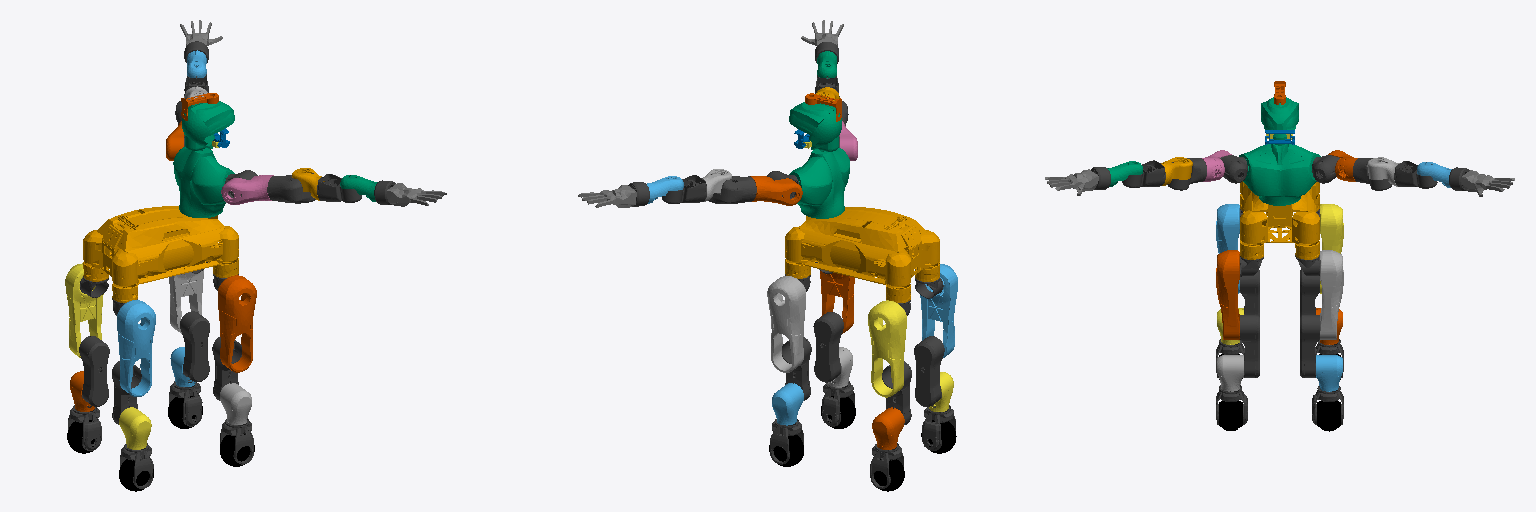
--- Facts derived from the render (not from the file) ---
3 views of the same robot in one strip: view 1: azimuth 30°, elevation 25°; view 2: azimuth 150°, elevation 25°; view 3: azimuth 270°, elevation 25° (orthographic).
Robot: centauro — 54 links, 53 joints (41 revolute, 5 continuous, 7 fixed); root link pelvis; default pose: all joints at 0 but 2 set to mid-range because 0 is outside their limits (j_arm1_2 = -1.74, j_arm2_2 = 1.74).
Links seen in each view (by area): view 1: pelvis, torso_2, hip2_2, hip2_4, hip2_3, knee_3, knee_1, hip2_1, arm2_2, ankle1_4, ankle1_2, arm2_3 (+11 smaller); view 2: pelvis, torso_2, hip2_1, hip2_3, hip2_4, knee_4, knee_2, hip2_2, arm1_2, ankle1_3, ankle1_1, arm1_3 (+11 smaller); view 3: torso_2, pelvis, hip2_2, hip2_1, knee_2, knee_1, hip2_4, hip2_3, ankle1_1, ankle1_2, arm2_8, arm1_8 (+12 smaller).
Boxes of the visible links, x1,y1,x2,y2 form: pelvis: [83, 206, 238, 302]; torso_2: [173, 101, 234, 217]; hip2_2: [218, 275, 256, 372]; hip2_4: [117, 300, 155, 396]; hip2_3: [65, 263, 103, 357]; knee_3: [79, 336, 109, 406]; knee_1: [180, 311, 209, 381]; hip2_1: [169, 270, 203, 333]; arm2_2: [221, 175, 273, 204]; ankle1_4: [119, 407, 151, 449]; ankle1_2: [220, 383, 251, 424]; arm2_3: [267, 173, 315, 203]; pelvis: [785, 207, 939, 302]; torso_2: [789, 102, 849, 218]; hip2_1: [767, 276, 805, 372]; hip2_3: [868, 300, 906, 397]; hip2_4: [920, 264, 957, 357]; knee_4: [914, 336, 944, 406]; knee_2: [813, 312, 843, 382]; hip2_2: [820, 271, 854, 333]; arm1_2: [750, 176, 802, 205]; ankle1_3: [872, 407, 904, 449]; ankle1_1: [772, 383, 803, 425]; arm1_3: [708, 174, 756, 203]; torso_2: [1239, 97, 1320, 205]; pelvis: [1240, 181, 1319, 259]; hip2_2: [1216, 250, 1239, 339]; hip2_1: [1320, 250, 1343, 339]; knee_2: [1240, 315, 1259, 377]; knee_1: [1300, 315, 1319, 377]; hip2_4: [1216, 204, 1239, 293]; hip2_3: [1320, 204, 1343, 293]; ankle1_1: [1316, 355, 1342, 391]; ankle1_2: [1217, 355, 1243, 391]; arm2_8: [1045, 169, 1098, 195]; arm1_8: [1461, 170, 1514, 196].
Bounding box of the posed robot: 1.16 × 2.13 × 1.68 m (x, y, z).
Meshes: 19 distinct files referenced, 45 mesh visuals loaded (19 binary STL).

robot.urdf — centauro:
<?xml version="1.0" ?>
<!-- =================================================================================== -->
<!-- |    This document was autogenerated by xacro from centauro.urdf.xacro            | -->
<!-- |    EDITING THIS FILE BY HAND IS NOT RECOMMENDED                                 | -->
<!-- =================================================================================== -->
<robot name="centauro" xmlns:xacro="http://www.ros.org/wiki/xacro">
  <!-- /constants -->
  <!-- Here all arguments from launch file are evaluated to the final xacro poropeties.
     Also all the parameter dependencies are resolved-->
  <!-- Here all arguments from launch file are evaluated to the final xacro poropeties.
     Also all the parameter dependencies are resolved-->
  <!-- Here all arguments from launch file are evaluated to the final xacro poropeties.
     Also all the parameter dependencies are resolved-->
  <!-- Here all arguments from launch file are evaluated to the final xacro poropeties.
     Also all the parameter dependencies are resolved-->
  <gazebo reference="j_ft_1">
    <sensor name="left_arm_ft" type="force_torque">
      <force_torque>
        <frame>parent</frame>
        <measure_direction>child_to_parent</measure_direction>
      </force_torque>
      <always_on>true</always_on>
      <visualize>true</visualize>
      <update_rate>1000</update_rate>
      <pose>0 0 0 0 0 0</pose>
    </sensor>
  </gazebo>
  <gazebo reference="j_ft_2">
    <sensor name="right_arm_ft" type="force_torque">
      <force_torque>
        <frame>parent</frame>
        <measure_direction>child_to_parent</measure_direction>
      </force_torque>
      <always_on>true</always_on>
      <visualize>true</visualize>
      <update_rate>1000</update_rate>
      <pose>0 0 0 0 0 0</pose>
    </sensor>
  </gazebo>
  <gazebo reference="j_wheel_1">
    <sensor name="fl_foot_ft" type="force_torque">
      <force_torque>
        <frame>parent</frame>
        <measure_direction>child_to_parent</measure_direction>
      </force_torque>
      <always_on>true</always_on>
      <visualize>true</visualize>
      <update_rate>1000</update_rate>
      <pose>0 0 0 0 0 0</pose>
    </sensor>
  </gazebo>
  <gazebo reference="j_wheel_2">
    <sensor name="fr_foot_ft" type="force_torque">
      <force_torque>
        <frame>parent</frame>
        <measure_direction>child_to_parent</measure_direction>
      </force_torque>
      <always_on>true</always_on>
      <visualize>true</visualize>
      <update_rate>1000</update_rate>
      <pose>0 0 0 0 0 0</pose>
    </sensor>
  </gazebo>
  <gazebo reference="j_wheel_4">
    <sensor name="hr_foot_ft" type="force_torque">
      <force_torque>
        <frame>parent</frame>
        <measure_direction>child_to_parent</measure_direction>
      </force_torque>
      <always_on>true</always_on>
      <visualize>true</visualize>
      <update_rate>1000</update_rate>
      <pose>0 0 0 0 0 0</pose>
    </sensor>
  </gazebo>
  <gazebo reference="j_wheel_3">
    <sensor name="hl_foot_ft" type="force_torque">
      <force_torque>
        <frame>parent</frame>
        <measure_direction>child_to_parent</measure_direction>
      </force_torque>
      <always_on>true</always_on>
      <visualize>true</visualize>
      <update_rate>1000</update_rate>
      <pose>0 0 0 0 0 0</pose>
    </sensor>
  </gazebo>
  <gazebo reference="wheel_1">
    <sensor name="wheel_1_contact_sensor_1" type="contact">
      <always_on>true</always_on>
      <update_rate>1000.0</update_rate>
      <contact>
        <collision>wheel_1_collision_1</collision>
      </contact>
      <plugin filename="libgazebo_ros_bumper.so" name="wheel_1_bumper">
        <bumperTopicName>centauro/contacts_wheel_1</bumperTopicName>
        <frameName>wheel_1</frameName>
      </plugin>
    </sensor>
  </gazebo>
  <gazebo reference="wheel_2">
    <sensor name="wheel_2_contact_sensor_1" type="contact">
      <always_on>true</always_on>
      <update_rate>1000.0</update_rate>
      <contact>
        <collision>wheel_2_collision_1</collision>
      </contact>
      <plugin filename="libgazebo_ros_bumper.so" name="wheel_2_bumper">
        <bumperTopicName>centauro/contacts_wheel_2</bumperTopicName>
        <frameName>wheel_2</frameName>
      </plugin>
    </sensor>
  </gazebo>
  <gazebo reference="wheel_3">
    <sensor name="wheel_3_contact_sensor_1" type="contact">
      <always_on>true</always_on>
      <update_rate>1000.0</update_rate>
      <contact>
        <collision>wheel_3_collision_1</collision>
      </contact>
      <plugin filename="libgazebo_ros_bumper.so" name="wheel_3_bumper">
        <bumperTopicName>centauro/contacts_wheel_3</bumperTopicName>
        <frameName>wheel_3</frameName>
      </plugin>
    </sensor>
  </gazebo>
  <gazebo reference="wheel_4">
    <sensor name="wheel_4_contact_sensor_1" type="contact">
      <always_on>true</always_on>
      <update_rate>1000.0</update_rate>
      <contact>
        <collision>wheel_4_collision_1</collision>
      </contact>
      <plugin filename="libgazebo_ros_bumper.so" name="wheel_4_bumper">
        <bumperTopicName>centauro/contacts_wheel_4</bumperTopicName>
        <frameName>wheel_4</frameName>
      </plugin>
    </sensor>
  </gazebo>
  <!-- Here all arguments from launch file are evaluated to the final xacro poropeties.
     Also all the parameter dependencies are resolved-->
  <gazebo reference="imu_link">
    <sensor name="imu_link" type="imu">
      <always_on>1</always_on>
      <update_rate>500</update_rate>
      <visualize>true</visualize>
      <topic>__default_topic__</topic>
      <imu>
        <!--
                <noise>
                <type>gaussian</type>
                <rate>
                    <mean>0.0</mean>
                    <stddev>2e-4</stddev>
                    <bias_mean>0.0000075</bias_mean>
                    <bias_stddev>0.0000008</bias_stddev>
                </rate>
                <accel>
                    <mean>0.0</mean>
                    <stddev>1.7e-2</stddev>
                    <bias_mean>0.1</bias_mean>
                    <bias_stddev>0.001</bias_stddev>
                </accel>
                </noise>
                -->
      </imu>
    </sensor>
  </gazebo>
  <gazebo>
    <plugin filename="libGazeboXBotPlugin.so" name="gazebo_xbot_plugin">
      <path_to_config_file>configs/ADVR_shared/centauro/configs/config_centauro.yaml</path_to_config_file>
      <!--                <path_to_config_file>configs/ADVR_shared/centauro/configs/config_centauro.yaml</path_to_config_file> -->
    </plugin>
    <plugin filename="libmagnetic.so" name="magnetic_LSoftHand">
      <link_name>arm1_8</link_name>
    </plugin>
    <plugin filename="libmagnetic.so" name="magnetic_RSoftHand">
      <link_name>arm2_8</link_name>
    </plugin>
  </gazebo>
  <!-- /CONTROLLER -->
  <!-- VISUALiZATION AND FRICTION -->
  <gazebo reference="base_link">
    <material>Gazebo/Red</material>
  </gazebo>
  <gazebo reference="pelvis">
    <material>Gazebo/OrangeTransparent</material>
    <mu1>0</mu1>
    <mu2>0</mu2>
  </gazebo>
  <gazebo reference="torso_2">
    <material>Gazebo/OrangeTransparent</material>
    <mu1>0</mu1>
    <mu2>0</mu2>
  </gazebo>
  <gazebo reference="hip1_1">
    <material>Gazebo/Lane_1</material>
    <mu1>0</mu1>
    <mu2>0</mu2>
  </gazebo>
  <gazebo reference="hip1_2">
    <material>Gazebo/Lane_1 </material>
    <mu1>0</mu1>
    <mu2>0</mu2>
  </gazebo>
  <gazebo reference="hip1_3">
    <material>Gazebo/Lane_1</material>
    <mu1>0</mu1>
    <mu2>0</mu2>
  </gazebo>
  <gazebo reference="hip1_4">
    <material>Gazebo/Lane_1</material>
    <mu1>0</mu1>
    <mu2>0</mu2>
  </gazebo>
  <gazebo reference="hip2_1">
    <material>Gazebo/OrangeTransparent </material>
    <mu1>0</mu1>
    <mu2>0</mu2>
  </gazebo>
  <gazebo reference="hip2_2">
    <material>Gazebo/OrangeTransparent</material>
    <mu1>0</mu1>
    <mu2>0</mu2>
  </gazebo>
  <gazebo reference="hip2_3">
    <material>Gazebo/OrangeTransparent </material>
    <mu1>0</mu1>
    <mu2>0</mu2>
  </gazebo>
  <gazebo reference="hip2_4">
    <material>Gazebo/OrangeTransparent </material>
    <mu1>0</mu1>
    <mu2>0</mu2>
  </gazebo>
  <gazebo reference="knee_1">
    <material>Gazebo/Lane_1 </material>
    <mu1>0</mu1>
    <mu2>0</mu2>
  </gazebo>
  <gazebo reference="knee_2">
    <material>Gazebo/Lane_1 </material>
    <mu1>0</mu1>
    <mu2>0</mu2>
  </gazebo>
  <gazebo reference="knee_3">
    <material>Gazebo/Lane_1 </material>
    <mu1>0</mu1>
    <mu2>0</mu2>
  </gazebo>
  <gazebo reference="knee_4">
    <material>Gazebo/Lane_1 </material>
    <mu1>0</mu1>
    <mu2>0</mu2>
  </gazebo>
  <gazebo reference="ankle1_1">
    <material>Gazebo/OrangeTransparent</material>
    <mu1>0</mu1>
    <mu2>0</mu2>
  </gazebo>
  <gazebo reference="ankle1_2">
    <material>Gazebo/OrangeTransparent  </material>
    <mu1>0</mu1>
    <mu2>0</mu2>
  </gazebo>
  <gazebo reference="ankle1_3">
    <material>Gazebo/OrangeTransparent </material>
    <mu1>0</mu1>
    <mu2>0</mu2>
  </gazebo>
  <gazebo reference="ankle1_4">
    <material>Gazebo/OrangeTransparent  </material>
    <mu1>0</mu1>
    <mu2>0</mu2>
  </gazebo>
  <gazebo reference="ankle2_1">
    <material> Gazebo/Lane_1 </material>
    <mu1>0</mu1>
    <mu2>0</mu2>
  </gazebo>
  <gazebo reference="ankle2_2">
    <material>Gazebo/Lane_1 </material>
    <mu1>0</mu1>
    <mu2>0</mu2>
  </gazebo>
  <gazebo reference="ankle2_3">
    <material>Gazebo/Lane_1</material>
    <mu1>0</mu1>
    <mu2>0</mu2>
  </gazebo>
  <gazebo reference="ankle2_4">
    <material>Gazebo/Lane_1</material>
    <mu1>0</mu1>
    <mu2>0</mu2>
  </gazebo>
  <gazebo reference="wheel_1">
    <material>Gazebo/Residential </material>
    <collision>
      <surface>
        <friction>
          <!--                                        <torsional>
                                                <coefficient> 0.5 </coefficient>
                                                <use_patch_radius>true</use_patch_radius>
                                                <patch_radius>0.2</patch_radius>
                                        </torsional>-->
          <ode>
            <mu>0.5</mu>
            <mu2>0.5</mu2>
          </ode>
          <bullet>
            <friction>0.5</friction>
            <friction2>0.5</friction2>
          </bullet>
        </friction>
        <contact>
          <ode>
            <!--<soft_cfm>0.0001</soft_cfm>
                                        <soft_erp>0.25</soft_erp> -->
            <kp>2100000</kp>
            <kd>1</kd>
            <max_vel>100</max_vel>
          </ode>
          <bullet>
            <soft_cfm>0.007</soft_cfm>
            <soft_erp>0.25</soft_erp>
            <kp>1000000</kp>
            <kd>5</kd>
            <split_impulse>0.01</split_impulse>
          </bullet>
        </contact>
      </surface>
    </collision>
  </gazebo>
  <gazebo reference="wheel_2">
    <material>Gazebo/Residential</material>
    <collision>
      <surface>
        <friction>
          <!--                                        <torsional>
                                                <coefficient> 0.5 </coefficient>
                                                <use_patch_radius>true</use_patch_radius>
                                                <patch_radius>0.2</patch_radius>
                                        </torsional>-->
          <ode>
            <mu>0.5</mu>
            <mu2>0.5</mu2>
          </ode>
          <bullet>
            <friction>0.5</friction>
            <friction2>0.5</friction2>
          </bullet>
        </friction>
        <contact>
          <ode>
            <!--<soft_cfm>0.0001</soft_cfm>
                                        <soft_erp>0.25</soft_erp> -->
            <kp>2100000</kp>
            <kd>1</kd>
            <max_vel>100</max_vel>
          </ode>
          <bullet>
            <soft_cfm>0.007</soft_cfm>
            <soft_erp>0.25</soft_erp>
            <kp>1000000</kp>
            <kd>5</kd>
            <split_impulse>0.01</split_impulse>
          </bullet>
        </contact>
      </surface>
    </collision>
  </gazebo>
  <gazebo reference="wheel_3">
    <material>Gazebo/Residential </material>
    <collision>
      <surface>
        <friction>
          <!--                                        <torsional>
                                                <coefficient> 0.5 </coefficient>
                                                <use_patch_radius>true</use_patch_radius>
                                                <patch_radius>0.2</patch_radius>
                                        </torsional>-->
          <ode>
            <mu>0.5</mu>
            <mu2>0.5</mu2>
          </ode>
          <bullet>
            <friction>0.5</friction>
            <friction2>0.5</friction2>
          </bullet>
        </friction>
        <contact>
          <ode>
            <!--<soft_cfm>0.0001</soft_cfm>
                                        <soft_erp>0.25</soft_erp> -->
            <kp>2100000</kp>
            <kd>1</kd>
            <max_vel>100</max_vel>
          </ode>
          <bullet>
            <soft_cfm>0.007</soft_cfm>
            <soft_erp>0.25</soft_erp>
            <kp>1000000</kp>
            <kd>5</kd>
            <split_impulse>0.01</split_impulse>
          </bullet>
        </contact>
      </surface>
    </collision>
  </gazebo>
  <gazebo reference="wheel_4">
    <material>Gazebo/Residential</material>
    <collision>
      <surface>
        <friction>
          <!--                                        <torsional>
                                                <coefficient> 0.5 </coefficient>
                                                <use_patch_radius>true</use_patch_radius>
                                                <patch_radius>0.2</patch_radius>
                                        </torsional>-->
          <ode>
            <mu>0.5</mu>
            <mu2>0.5</mu2>
          </ode>
          <bullet>
            <friction>0.5</friction>
            <friction2>0.5</friction2>
          </bullet>
        </friction>
        <contact>
          <ode>
            <!--<soft_cfm>0.0001</soft_cfm>
                                        <soft_erp>0.25</soft_erp> -->
            <kp>2100000</kp>
            <kd>1</kd>
            <max_vel>100</max_vel>
          </ode>
          <bullet>
            <soft_cfm>0.007</soft_cfm>
            <soft_erp>0.25</soft_erp>
            <kp>1000000</kp>
            <kd>5</kd>
            <split_impulse>0.01</split_impulse>
          </bullet>
        </contact>
      </surface>
    </collision>
  </gazebo>
  <gazebo reference="arm1_1">
    <material>Gazebo/Lane_1 </material>
    <mu1>0</mu1>
    <mu2>0</mu2>
  </gazebo>
  <gazebo reference="arm2_1">
    <material>Gazebo/Lane_1 </material>
    <mu1>0</mu1>
    <mu2>0</mu2>
  </gazebo>
  <gazebo reference="arm1_2">
    <material>Gazebo/OrangeTransparent </material>
    <mu1>0</mu1>
    <mu2>0</mu2>
  </gazebo>
  <gazebo reference="arm2_2">
    <material>Gazebo/OrangeTransparent</material>
    <mu1>0</mu1>
    <mu2>0</mu2>
  </gazebo>
  <gazebo reference="arm1_3">
    <material>Gazebo/Lane_1 </material>
    <mu1>0</mu1>
    <mu2>0</mu2>
  </gazebo>
  <gazebo reference="arm2_3">
    <material>Gazebo/Lane_1 </material>
    <mu1>0</mu1>
    <mu2>0</mu2>
  </gazebo>
  <gazebo reference="arm1_4">
    <material>Gazebo/OrangeTransparent </material>
    <mu1>0</mu1>
    <mu2>0</mu2>
  </gazebo>
  <gazebo reference="arm2_4">
    <material>Gazebo/OrangeTransparent </material>
    <mu1>0</mu1>
    <mu2>0</mu2>
  </gazebo>
  <gazebo reference="arm1_5">
    <material>Gazebo/Lane_1 </material>
    <mu1>0</mu1>
    <mu2>0</mu2>
  </gazebo>
  <gazebo reference="arm2_5">
    <material>Gazebo/Lane_1 </material>
    <mu1>0</mu1>
    <mu2>0</mu2>
  </gazebo>
  <gazebo reference="arm1_6">
    <material>Gazebo/OrangeTransparent </material>
    <mu1>0</mu1>
    <mu2>0</mu2>
  </gazebo>
  <gazebo reference="arm2_6">
    <material>Gazebo/OrangeTransparent </material>
    <mu1>0</mu1>
    <mu2>0</mu2>
  </gazebo>
  <gazebo reference="arm1_7">
    <material>Gazebo/Lane_1 </material>
    <mu1>0</mu1>
    <mu2>0</mu2>
  </gazebo>
  <gazebo reference="arm2_7">
    <material>Gazebo/Lane_1 </material>
    <mu1>0</mu1>
    <mu2>0</mu2>
  </gazebo>
  <gazebo reference="arm1_8">
    <material>Gazebo/OrangeTransparent </material>
    <mu1>0</mu1>
    <mu2>0</mu2>
  </gazebo>
  <gazebo reference="arm2_8">
    <material>Gazebo/OrangeTransparent </material>
    <mu1>0</mu1>
    <mu2>0</mu2>
  </gazebo>
  <material name="grey">
    <color rgba="0.5 0.5 0.5 1"/>
  </material>
  <material name="dark_grey">
    <color rgba="0.3 0.3 0.3 1"/>
  </material>
  <material name="blue">
    <color rgba="0.0 0.2 0.3 1"/>
  </material>
  <material name="red">
    <color rgba="0.5 0.1 0.2 1"/>
  </material>
  <material name="black">
    <color rgba="0.0 0.0 0.0 1"/>
  </material>
  <!-- Here all arguments from launch file are evaluated to the final xacro poropeties.
     Also all the parameter dependencies are resolved-->
  <!-- load proper collision model -->
  <!-- load proper collision model -->
  <!-- load proper collision model -->
  <!-- load proper collision model -->
  <!-- load proper collision model -->
  <!-- Here all arguments from launch file are evaluated to the final xacro poropeties.
     Also all the parameter dependencies are resolved-->
  <!-- load proper collision model -->
  <!-- load proper collision model -->
  <!-- load proper collision model -->
  <!-- load proper collision model -->
  <!-- load proper collision model -->
  <!-- /macro legs -->
  <!-- /macro arms -->
  <!-- /other files -->
  <!-- reference -->
  <!-- <link name="base_link"/>

<joint name="base_joint" type="fixed">
   <origin xyz="0 0 0"/>
   <parent link="base_link"/>
   <child link="world"/>
</joint>
-->
  <!--link name="world"/-->
  <link name="pelvis">
    <inertial>
      <origin xyz="-0.013541342 -0.0029098264 0.01400721"/>
      <mass value="24.190945"/>
      <inertia ixx="0.20021119" ixy="-0.0038421093" ixz="-0.033298849" iyy="0.51136214" iyz="0.004469847" izz="0.54401411"/>
    </inertial>
    <visual>
      <origin rpy="0.0 0.0 0.0" xyz="0.0 0 0.0"/>
      <geometry>
        <mesh filename="meshes/simplified/pelvis.stl" scale="0.001 0.001 0.001"/>
      </geometry>
    </visual>
    <collision>
      <origin rpy="0.0 0.0 0.0" xyz="0.0 0 0.0"/>
      <geometry>
        <mesh filename="meshes/convex_hull/pelvis.stl" scale="0.001 0.001 0.001"/>
      </geometry>
    </collision>
  </link>
  <link name="imu_link">
    <inertial>
      <mass value="0.0"/>
      <inertia ixx="0.0" ixy="0.0" ixz="0.0" iyy="0.0" iyz="0.0" izz="0.0"/>
    </inertial>
  </link>
  <joint name="imu_joint" type="fixed">
    <parent link="pelvis"/>
    <origin rpy="0.0 0.0 0.0" xyz="0.0 0.0 0.0"/>
    <child link="imu_link"/>
  </joint>
  <!--joint name="reference" type="floating">
    <origin xyz="0.0 0.0 0.93445"/>
    <parent link="world"/>
    <child link="pelvis"/>
  </joint-->
  <!-- /reference  -->
  <!-- torso links -->
  <link name="torso_2">
    <inertial>
      <origin xyz="0.0064454169 0.0021390093 0.14302095"/>
      <mass value="6.1886404"/>
      <inertia ixx="0.063643392" ixy="8.939e-05" ixz="-0.00086873" iyy="0.02680235" iyz="-4.657e-05" izz="0.04743015"/>
    </inertial>
    <visual>
      <origin rpy="0.0 0.0 0.0" xyz="0.0 0 0.0"/>
      <geometry>
        <mesh filename="meshes/simplified/link1.stl" scale="0.001 0.001 0.001"/>
      </geometry>
    </visual>
    <collision>
      <origin rpy="0.0 0.0 0.0" xyz="0.0 0 0.0"/>
      <geometry>
        <mesh filename="meshes/convex_hull/link1.stl" scale="0.001 0.001 0.001"/>
      </geometry>
    </collision>
  </link>
  <!-- /torso links -->
  <!-- torso joints -->
  <joint name="torso_yaw" type="revolute">
    <parent link="pelvis"/>
    <origin xyz="0.2 0.0 0.256"/>
    <child link="torso_2"/>
    <axis xyz="0 0 1"/>
    <limit effort="147" lower="-2.618" upper="2.618" velocity="5.7"/>
    <!-- TODO -->
  </joint>
  <!-- /torso joints -->
  <transmission name="t_torso_yaw">
    <type> transmission_interface/SimpleTransmission</type>
    <joint name="torso_yaw">
      <hardwareInterface>hardware_interface/EffortJointInterface</hardwareInterface>
    </joint>
    <actuator name="motor_torso_yaw">
      <hardwareInterface>hardware_interface/EffortJointInterface</hardwareInterface>
      <machanicalReduction>1</machanicalReduction>
    </actuator>
    <robotNamespace>/centauro</robotNamespace>
  </transmission>
  <!-- /torso actuators -->
  <!-- head links -->
  <link name="neck_1">
    <inertial>
      <origin xyz="0.040479674 0.021377573 -0.014595112"/>
      <mass value="0.33878686"/>
      <inertia ixx="0.0003718568" ixy="-9.42983e-05" ixz="-2.80644e-05" iyy="0.0001886879" iyz="-1.54534e-05" izz="0.0005023443"/>
    </inertial>
    <visual>
      <origin rpy="0.0 0.0 0.0" xyz="0.0 0 0.0"/>
      <geometry>
        <mesh filename="meshes/simplified/neck_yaw.stl" scale="0.001 0.001 0.001"/>
      </geometry>
    </visual>
    <collision>
      <origin rpy="0.0 0.0 0.0" xyz="0.0 0 0.0"/>
      <geometry>
        <mesh filename="meshes/convex_hull/neck_yaw.stl" scale="0.001 0.001 0.001"/>
      </geometry>
    </collision>
  </link>
  <link name="neck_2">
    <inertial>
      <origin xyz="0.048466918 -0.059852318 -0.0085314894"/>
      <mass value="0.78526942"/>
      <inertia ixx="0.0004682345" ixy="-1.05438e-05" ixz="7.24398e-05" iyy="0.0002635246" iyz="1.6904e-06" izz="0.0003763351"/>
    </inertial>
    <visual>
      <origin rpy="0.0 0.0 0.0" xyz="0.0 0 0.0"/>
      <geometry>
        <mesh filename="meshes/simplified/neck_pitch.stl" scale="0.001 0.001 0.001"/>
      </geometry>
    </visual>
    <collision>
      <origin rpy="0.0 0.0 0.0" xyz="0.0 0 0.0"/>
      <geometry>
        <mesh filename="meshes/convex_hull/neck_pitch.stl" scale="0.001 0.001 0.001"/>
      </geometry>
    </collision>
  </link>
  <link name="neck_3">
    <inertial>
      <origin xyz="0.048466918 -0.059852318 -0.0085314894"/>
      <mass value="0.78526942"/>
      <inertia ixx="0.0004682345" ixy="-1.05438e-05" ixz="7.24398e-05" iyy="0.0002635246" iyz="1.6904e-06" izz="0.0003763351"/>
    </inertial>
    <visual>
      <origin rpy="0.0 0.0 0.0" xyz="0.0 0 0.0"/>
      <geometry>
        <mesh filename="meshes/simplified/velodyne.stl" scale="0.001 0.001 0.001"/>
      </geometry>
    </visual>
    <collision>
      <origin rpy="0.0 0.0 0.0" xyz="0.0 0 0.0"/>
      <geometry>
        <mesh filename="meshes/convex_hull/velodyne.stl" scale="0.001 0.001 0.001"/>
      </geometry>
    </collision>
  </link>
  <!-- /head links -->
  <!-- sensors links -->
  <link name="camera_central">
    <inertial>
      <origin xyz="0.0 0.0 0.0"/>
      <mass value="0.1"/>
      <inertia ixx="1e-06" ixy="0.0" ixz="0.0" iyy="1e-06" iyz="0.0" izz="1e-06"/>
    </inertial>
  </link>
  <link name="camera_left">
    <inertial>
      <origin xyz="0.0 0.0 0.0"/>
      <mass value="0.1"/>
      <inertia ixx="1e-06" ixy="0.0" ixz="0.0" iyy="1e-06" iyz="0.0" izz="1e-06"/>
    </inertial>
  </link>
  <link name="camera_right">
    <inertial>
      <origin xyz="0.0 0.0 0.0"/>
      <mass value="0.1"/>
      <inertia ixx="1e-06" ixy="0.0" ixz="0.0" iyy="1e-06" iyz="0.0" izz="1e-06"/>
    </inertial>
  </link>
  <link name="kinect">
    <inertial>
      <origin xyz="0.0 0.0 0.0"/>
      <mass value="0.1"/>
      <inertia ixx="1e-06" ixy="0.0" ixz="0.0" iyy="1e-06" iyz="0.0" izz="1e-06"/>
    </inertial>
  </link>
  <link name="kinect2_rgb_optical_frame">
    <inertial>
      <origin rpy="0 0 0" xyz="0 0 0"/>
      <mass value="0"/>
      <inertia ixx="0.0" ixy="0.0" ixz="0.0" iyy="0.0" iyz="0.0" izz="0.0"/>
    </inertial>
  </link> <!-- in pybullet, the inertia need to be specified even for dummy links, otherwise it will put an identity inertia and a mass of 1 by default -->
  <link name="velodyne_mount">
    <inertial>
      <origin xyz="0.0 0.0 0.0"/>
      <mass value="0.1"/>
      <inertia ixx="1e-06" ixy="0.0" ixz="0.0" iyy="1e-06" iyz="0.0" izz="1e-06"/>
    </inertial>
  </link>
  <!-- /sensors links -->
  <!-- head joints -->
  <joint name="neck_yaw" type="revolute">
    <parent link="torso_2"/>
    <origin xyz="0.0 0.0 0.2795"/>
    <child link="neck_1"/>
    <axis xyz="0 0 1"/>
    <limit effort="35" lower="-0.78539816" upper="0.78539816" velocity="5.7"/>
    <!-- TODO -->
  </joint>
  <joint name="neck_pitch" type="revolute">
    <parent link="neck_1"/>
    <origin xyz="0.054 0.0596 -0.0124975"/>
    <child link="neck_2"/>
    <axis xyz="0 1 0"/>
    <limit effort="35" lower="-0.34906585" upper="0.78539816" velocity="5.7"/>
    <!-- TODO -->
  </joint>
  <joint name="neck_velodyne" type="continuous">
    <parent link="torso_2"/>
    <origin xyz="0.055 0.0 0.473262"/>
    <child link="neck_3"/>
    <axis xyz="0 0 1"/>
    <limit effort="35" velocity="5.7"/>
    <!-- TODO -->
  </joint>
  <!-- /head joints -->
  <!-- sensors transformations  -->
  <joint name="j_camera_central" type="fixed">
    <parent link="torso_2"/>
    <origin rpy="0.0 0.349065586018 0.0" xyz="0.0559593 5e-12 0.390626"/>
    <child link="camera_central"/>
  </joint>
  <joint name="j_camera_left" type="fixed">
    <parent link="torso_2"/>
    <origin rpy="0.0 0.349065586018 1.2217302006" xyz="0.0191392 0.0525845 0.390626"/>
    <child link="camera_left"/>
  </joint>
  <joint name="j_camera_right" type="fixed">
    <parent link="torso_2"/>
    <origin rpy="0.0 0.349065586018 -1.2217302006" xyz="0.0191392 -0.0525845 0.390626"/>
    <child link="camera_right"/>
  </joint>
  <joint name="j_kinect" type="fixed">
    <parent link="neck_2"/>
    <origin rpy="0.0 0.0 0.0" xyz="0.03 -0.0596 0.045855"/>
    <child link="kinect"/>
  </joint>
  <joint name="j_kinect_optical_frame" type="fixed">
    <parent link="kinect"/>
    <child link="kinect2_rgb_optical_frame"/>
    <origin rpy=" -1.5707963268 0 -1.5707963268" xyz="0.050 -0.110 -0.035"/>
  </joint>
  <joint name="j_velodyne" type="fixed">
    <parent link="neck_3"/>
    <origin rpy="0.0 0.0 -3.14159265359" xyz="-0.138 0.0 -0.033"/>
    <child link="velodyne_mount"/>
  </joint>
  <!-- /sensors transformations -->
  <transmission name="t_neck_yaw">
    <type> transmission_interface/SimpleTransmission</type>
    <joint name="neck_yaw">
      <hardwareInterface>hardware_interface/EffortJointInterface</hardwareInterface>
    </joint>
    <actuator name="motor_neck_yaw">
      <hardwareInterface>hardware_interface/EffortJointInterface</hardwareInterface>
      <machanicalReduction>1</machanicalReduction>
    </actuator>
    <robotNamespace>/centauro</robotNamespace>
  </transmission>
  <transmission name="t_neck_pitch">
    <type> transmission_interface/SimpleTransmission</type>
    <joint name="neck_pitch">
      <hardwareInterface>hardware_interface/EffortJointInterface</hardwareInterface>
    </joint>
    <actuator name="motor_neck_pitch">
      <hardwareInterface>hardware_interface/EffortJointInterface</hardwareInterface>
      <machanicalReduction>1</machanicalReduction>
    </actuator>
    <robotNamespace>/centauro</robotNamespace>
  </transmission>
  <transmission name="t_neck_velodyne">
    <type> transmission_interface/SimpleTransmission</type>
    <joint name="neck_velodyne">
      <hardwareInterface>hardware_interface/EffortJointInterface</hardwareInterface>
    </joint>
    <actuator name="motor_neck_velodyne">
      <hardwareInterface>hardware_interface/EffortJointInterface</hardwareInterface>
      <machanicalReduction>1</machanicalReduction>
    </actuator>
    <robotNamespace>/centauro</robotNamespace>
  </transmission>
  <!-- /torso actuators -->
  <!-- /torso -->
  <!-- LINKS -->
  <!-- shoulder yaw-roll-->
  <link name="arm1_1">
    <inertial>
      <origin xyz="-0.0031005886 0.040324584 0.007451937"/>
      <mass value="1.5583338"/>
      <inertia ixx="0.0032318636" ixy="4.24587e-05" ixz="4.91626e-05" iyy="0.00275718" iyz="-0.0002387056" izz="0.004275047"/>
    </inertial>
    <visual>
      <origin rpy="0.0 0.0 0.0" xyz="0.0 0.0 0.0"/>
      <geometry>
        <mesh filename="meshes/simplified/link2.stl" scale="0.001 -0.001 0.001"/>
      </geometry>
      <material name="dark_grey"/>
    </visual>
    <collision>
      <origin rpy="0.0 0.0 0.0" xyz="0.0 0.0 0.0"/>
      <geometry>
        <mesh filename="meshes/convex_hull/link2.stl" scale="0.001 -0.001 0.001"/>
      </geometry>
    </collision>
  </link>
  <!-- shoulder yaw-roll-->
  <!-- shoulder roll-pitch-->
  <link name="arm1_2">
    <inertial>
      <origin xyz="0.05105435 0.00011109 -0.07643596"/>
      <mass value="1.515061"/>
      <inertia ixx="0.01029558" ixy="2.846e-05" ixz="0.0036567" iyy="0.01178018" iyz="2.088e-05" izz="0.00386123"/>
    </inertial>
    <visual>
      <origin rpy="0.0 0.0 0.0" xyz="0.0 0.0 0.0"/>
      <geometry>
        <mesh filename="meshes/simplified/link3.stl" scale="0.001 -0.001 0.001"/>
      </geometry>
    </visual>
    <collision>
      <origin rpy="0.0 0.0 0.0" xyz="0.0 0.0 0.0"/>
      <geometry>
        <mesh filename="meshes/convex_hull/link3.stl" scale="0.001 -0.001 0.001"/>
      </geometry>
    </collision>
  </link>
  <!-- shoulder roll-pitch-->
  <!-- shoulder-elbow -->
  <link name="arm1_3">
    <inertial>
      <origin xyz="0.01207624 0.00322013 -0.03427312"/>
      <mass value="1.5088101"/>
      <inertia ixx="0.00469819" ixy="-0.00026547" ixz="0.00077706" iyy="0.00501755" iyz="0.00029679" izz="0.00310954"/>
    </inertial>
    <visual>
      <origin rpy="0.0 0.0 0.0" xyz="0.0 0.0 0.0"/>
      <geometry>
        <mesh filename="meshes/simplified/link4.stl" scale="0.001 -0.001 0.001"/>
      </geometry>
      <material name="dark_grey"/>
    </visual>
    <collision>
      <origin rpy="0.0 0.0 0.0" xyz="0.0 0.0 0.0"/>
      <geometry>
        <mesh filename="meshes/convex_hull/link4.stl" scale="0.001 -0.001 0.001"/>
      </geometry>
    </collision>
  </link>
  <!-- /shoulder-elbow -->
  <!-- elbow yaw-pitch -->
  <link name="arm1_4">
    <inertial>
      <origin xyz="0.010147552 -0.029928537 -0.032528288"/>
      <mass value="0.96297329"/>
      <inertia ixx="0.0026493567" ixy="5.1632e-06" ixz="0.0001292309" iyy="0.0023470955" iyz="-0.0007895755" izz="0.0012213063"/>
    </inertial>
    <visual>
      <origin rpy="0.0 0.0 0.0" xyz="0.0 0.0 0.0"/>
      <geometry>
        <mesh filename="meshes/simplified/link5.stl" scale="0.001 -0.001 0.001"/>
      </geometry>
    </visual>
    <collision>
      <origin rpy="0.0 0.0 0.0" xyz="0.0 0.0 0.0"/>
      <geometry>
        <mesh filename="meshes/convex_hull/link5.stl" scale="0.001 -0.001 0.001"/>
      </geometry>
    </collision>
  </link>
  <!-- /elbow yaw-pitch -->
  <!-- elbow-wrist -->
  <link name="arm1_5">
    <inertial>
      <origin xyz="-0.0001574443 0.0041320907 -0.10756614"/>
      <mass value="1.4703698"/>
      <inertia ixx="0.0064160453" ixy="1.96382e-05" ixz="2.49912e-05" iyy="0.0062016367" iyz="-0.0001987903" izz="0.0017091658"/>
    </inertial>
    <visual>
      <origin rpy="0.0 0.0 0.0" xyz="0.0 0.0 0.0"/>
      <geometry>
        <mesh filename="meshes/simplified/link6.stl" scale="0.001 -0.001 0.001"/>
      </geometry>
      <material name="dark_grey"/>
    </visual>
    <collision>
      <origin rpy="0.0 0.0 0.0" xyz="0.0 0.0 0.0"/>
      <geometry>
        <mesh filename="meshes/convex_hull/link6.stl" scale="0.001 -0.001 0.001"/>
      </geometry>
    </collision>
  </link>
  <!-- /elbow-wrist -->
  <!-- wrist yaw-pitch -->
  <link name="arm1_6">
    <inertial>
      <origin xyz="3.23645e-05 -0.035947237 -0.080878061"/>
      <mass value="0.94693868"/>
      <inertia ixx="0.0036896582" ixy="2.63667e-05" ixz="1.4005e-06" iyy="0.0034146283" iyz="-0.0008268103" izz="0.0010790183"/>
    </inertial>
    <visual>
      <origin rpy="0.0 0.0 0.0" xyz="0.0 0.0 0.0"/>
      <geometry>
        <mesh filename="meshes/simplified/link7.stl" scale="0.001 -0.001 0.001"/>
      </geometry>
    </visual>
    <collision>
      <origin rpy="0.0 0.0 0.0" xyz="0.0 0.0 0.0"/>
      <geometry>
        <mesh filename="meshes/convex_hull/link7.stl" scale="0.001 -0.001 0.001"/>
      </geometry>
    </collision>
  </link>
  <!-- /wrist yaw-pitch -->
  <link name="arm1_7">
    <inertial>
      <origin xyz="2.46596e-05 -0.0001467705 -0.0052993013"/>
      <mass value="0.55981036"/>
      <inertia ixx="0.0004360175" ixy="1.397e-07" ixz="-1.382e-07" iyy="0.0004299166" iyz="-1.4752e-06" izz="0.0004522224"/>
    </inertial>
    <visual>
      <origin rpy="0.0 0.0 0.0" xyz="0.0 0.0 0.0"/>
      <geometry>
        <mesh filename="meshes/simplified/link8.stl" scale="0.001 -0.001 0.001"/>
      </geometry>
      <material name="dark_grey"/>
    </visual>
    <collision>
      <origin rpy="0.0 0.0 0.0" xyz="0.0 0.0 0.0"/>
      <geometry>
        <mesh filename="meshes/convex_hull/link8.stl" scale="0.001 -0.001 0.001"/>
      </geometry>
    </collision>
  </link>
  <!-- /LINKS -->
  <!-- JOINTS -->
  <!-- shoulder yaw -->
  <joint name="j_arm1_1" type="revolute">
    <parent link="torso_2"/>
    <child link="arm1_1"/>
    <origin rpy="0.0 0.0 -0.523602668986" xyz="0.04576 0.169137 0.116626"/>
    <axis xyz="0 0.984807753012 0.173648177667"/>
    <limit effort="147" lower="-3.348" upper="1.578" velocity="5.7"/>
  </joint>
  <!-- /shoulder yaw -->
  <!-- shoulder roll -->
  <joint name="j_arm1_2" type="revolute">
    <parent link="arm1_1"/>
    <child link="arm1_2"/>
    <origin xyz="-0.09115 0.06106 0.010766"/>
    <axis xyz="-1 0 0"/>
    <limit effort="147" lower="-3.42" upper="-0.056" velocity="5.7"/>
  </joint>
  <!-- /shoulder roll -->
  <!-- shoulder pitch-->
  <joint name="j_arm1_3" type="revolute">
    <parent link="arm1_2"/>
    <child link="arm1_3"/>
    <origin xyz="0.09115 0.0 -0.21915"/>
    <axis xyz="0 0 -1"/>
    <limit effort="147" lower="-2.5556" upper="2.5424" velocity="8.2"/>
  </joint>
  <!-- /shoulder pitch -->
  <!-- elbow yaw -->
  <joint name="j_arm1_4" type="revolute">
    <parent link="arm1_3"/>
    <child link="arm1_4"/>
    <origin xyz="0.04 0.05615 -0.074"/>
    <axis xyz="0 1 0"/>
    <limit effort="147" lower="-2.4636" upper="0.2804" velocity="8.2"/>
  </joint>
  <!-- /elbow yaw -->
  <!-- elbow pitch-->
  <joint name="j_arm1_5" type="revolute">
    <parent link="arm1_4"/>
    <child link="arm1_5"/>
    <origin xyz="-0.015 -0.05615 -0.061"/>
    <axis xyz="0 0 -1"/>
    <limit effort="55" lower="-2.5406" upper="2.5534" velocity="11.6"/>
  </joint>
  <!-- /elbow pitch-->
  <!-- wrist yaw-->
  <joint name="j_arm1_6" type="revolute">
    <parent link="arm1_5"/>
    <child link="arm1_6"/>
    <origin xyz="0.0 0.049 -0.18"/>
    <axis xyz="0 1 0"/>
    <limit effort="55" lower="-1.5096" upper="1.5044" velocity="11.6"/>
  </joint>
  <!-- /wrist yaw-->
  <!-- wrist pitch-->
  <joint name="j_arm1_7" type="revolute">
    <parent link="arm1_6"/>
    <child link="arm1_7"/>
    <origin xyz="0.0 -0.049 -0.169"/>
    <axis xyz="0 0 -1"/>
    <limit effort="27" lower="-2.5376" upper="2.5554" velocity="20.3"/>
  </joint>
  <!-- wrist pitch-->
  <!-- force-troque sensor -->
  <transmission name="t_j_arm1_1">
    <type> transmission_interface/SimpleTransmission</type>
    <joint name="j_arm1_1">
      <hardwareInterface>hardware_interface/EffortJointInterface</hardwareInterface>
    </joint>
    <actuator name="motor_j_arm1_1">
      <hardwareInterface>hardware_interface/EffortJointInterface</hardwareInterface>
      <machanicalReduction>1</machanicalReduction>
    </actuator>
    <robotNamespace>/centauro</robotNamespace>
  </transmission>
  <transmission name="t_j_arm1_2">
    <type> transmission_interface/SimpleTransmission</type>
    <joint name="j_arm1_2">
      <hardwareInterface>hardware_interface/EffortJointInterface</hardwareInterface>
    </joint>
    <actuator name="motor_j_arm1_2">
      <hardwareInterface>hardware_interface/EffortJointInterface</hardwareInterface>
      <machanicalReduction>1</machanicalReduction>
    </actuator>
    <robotNamespace>/centauro</robotNamespace>
  </transmission>
  <transmission name="t_j_arm1_3">
    <type> transmission_interface/SimpleTransmission</type>
    <joint name="j_arm1_3">
      <hardwareInterface>hardware_interface/EffortJointInterface</hardwareInterface>
    </joint>
    <actuator name="motor_j_arm1_3">
      <hardwareInterface>hardware_interface/EffortJointInterface</hardwareInterface>
      <machanicalReduction>1</machanicalReduction>
    </actuator>
    <robotNamespace>/centauro</robotNamespace>
  </transmission>
  <transmission name="t_j_arm1_4">
    <type> transmission_interface/SimpleTransmission</type>
    <joint name="j_arm1_4">
      <hardwareInterface>hardware_interface/EffortJointInterface</hardwareInterface>
    </joint>
    <actuator name="motor_j_arm1_4">
      <hardwareInterface>hardware_interface/EffortJointInterface</hardwareInterface>
      <machanicalReduction>1</machanicalReduction>
    </actuator>
    <robotNamespace>/centauro</robotNamespace>
  </transmission>
  <transmission name="t_j_arm1_5">
    <type> transmission_interface/SimpleTransmission</type>
    <joint name="j_arm1_5">
      <hardwareInterface>hardware_interface/EffortJointInterface</hardwareInterface>
    </joint>
    <actuator name="motor_j_arm1_5">
      <hardwareInterface>hardware_interface/EffortJointInterface</hardwareInterface>
      <machanicalReduction>1</machanicalReduction>
    </actuator>
    <robotNamespace>/centauro</robotNamespace>
  </transmission>
  <transmission name="t_j_arm1_6">
    <type> transmission_interface/SimpleTransmission</type>
    <joint name="j_arm1_6">
      <hardwareInterface>hardware_interface/EffortJointInterface</hardwareInterface>
    </joint>
    <actuator name="motor_j_arm1_6">
      <hardwareInterface>hardware_interface/EffortJointInterface</hardwareInterface>
      <machanicalReduction>1</machanicalReduction>
    </actuator>
    <robotNamespace>/centauro</robotNamespace>
  </transmission>
  <transmission name="t_j_arm1_7">
    <type> transmission_interface/SimpleTransmission</type>
    <joint name="j_arm1_7">
      <hardwareInterface>hardware_interface/EffortJointInterface</hardwareInterface>
    </joint>
    <actuator name="motor_j_arm1_7">
      <hardwareInterface>hardware_interface/EffortJointInterface</hardwareInterface>
      <machanicalReduction>1</machanicalReduction>
    </actuator>
    <robotNamespace>/centauro</robotNamespace>
  </transmission>
  <!-- /actuators -->
  <!-- wrist pitch-->
  <joint name="j_ft_1" type="revolute">
    <parent link="arm1_7"/>
    <child link="ft_arm1"/>
    <origin rpy="0.0 3.14159265359 -3.14159265359" xyz="0.0 0.0 -0.0405"/>
    <axis xyz="0 0 1"/>
    <limit effort="0" lower="0.0" upper="0.0" velocity="0"/>
  </joint>
  <!-- wrist pitch-->
  <link name="ft_arm1">
    <inertial>
      <origin xyz="0.0 -0.0 0.0"/>
      <mass value="0.15"/>
      <inertia ixx="1e-06" ixy="-0.0" ixz="0.0" iyy="1e-06" iyz="-0.0" izz="1e-06"/>
    </inertial>
  </link>
  <transmission name="t_j_ft_1">
    <type> transmission_interface/SimpleTransmission</type>
    <joint name="j_ft_1">
      <hardwareInterface>hardware_interface/EffortJointInterface</hardwareInterface>
    </joint>
    <actuator name="motor_j_ft_1">
      <hardwareInterface>hardware_interface/EffortJointInterface</hardwareInterface>
      <machanicalReduction>1</machanicalReduction>
    </actuator>
    <robotNamespace>/centauro</robotNamespace>
  </transmission>
  <link name="arm1_8">
    <inertial>
      <origin rpy="0 0 0" xyz="0 0 -0.07"/>
      <mass value="0.3"/>
      <inertia ixx="0.000245" ixy="0" ixz="0" iyy="0.000245" iyz="0" izz="0.000245"/>
    </inertial>
    <visual>
      <origin rpy="0.0 0.0  3.14159265359" xyz="0.0 0.0 -0.038"/>
      <geometry>
        <mesh filename="meshes/simplified/soft_hand_open.stl" scale="-0.001 0.001 0.001"/>
      </geometry>
      <material name="grey"/>
    </visual>
    <collision>
      <origin rpy="0.0 0.0  3.14159265359" xyz="0.0 0.0 -0.038"/>
      <geometry>
        <mesh filename="meshes/simplified/soft_hand_open.stl" scale="-0.001 0.001 0.001"/>
      </geometry>
    </collision>
  </link>
  <!-- /links -->
  <joint name="j_arm1_8" type="revolute">
    <parent link="ft_arm1"/>
    <origin rpy="3.14159265359 0.0 0.0" xyz="0.0 0.0 -0.0405"/>
    <child link="arm1_8"/>
    <axis xyz="0 1 0"/>
    <limit effort="40" lower="0.0" upper="0.0" velocity="20.3"/>
  </joint>
   --&gt;

  <!-- /joints -->
  <transmission name="t_j_arm1_8">
    <type> transmission_interface/SimpleTransmission</type>
    <joint name="j_arm1_8">
      <hardwareInterface>hardware_interface/EffortJointInterface</hardwareInterface>
    </joint>
    <actuator name="motor_j_arm1_8">
      <hardwareInterface>hardware_interface/EffortJointInterface</hardwareInterface>
      <machanicalReduction>1</machanicalReduction>
    </actuator>
    <robotNamespace>/centauro</robotNamespace>
  </transmission>
  <!-- /actuators -->
  <!-- /end-effector -->
  <!-- LINKS -->
  <!-- shoulder yaw-roll-->
  <link name="arm2_1">
    <inertial>
      <origin xyz="-0.0031005886 -0.040324584 0.007451937"/>
      <mass value="1.5583338"/>
      <inertia ixx="0.0032318636" ixy="-4.24587e-05" ixz="4.91626e-05" iyy="0.00275718" iyz="0.0002387056" izz="0.004275047"/>
    </inertial>
    <visual>
      <origin rpy="0.0 0.0 0.0" xyz="0.0 0.0 0.0"/>
      <geometry>
        <mesh filename="meshes/simplified/link2.stl" scale="0.001 0.001 0.001"/>
      </geometry>
      <material name="dark_grey"/>
    </visual>
    <collision>
      <origin rpy="0.0 0.0 0.0" xyz="0.0 0.0 0.0"/>
      <geometry>
        <mesh filename="meshes/convex_hull/link2.stl" scale="0.001 0.001 0.001"/>
      </geometry>
    </collision>
  </link>
  <!-- shoulder yaw-roll-->
  <!-- shoulder roll-pitch-->
  <link name="arm2_2">
    <inertial>
      <origin xyz="0.05105435 -0.00011109 -0.07643596"/>
      <mass value="1.515061"/>
      <inertia ixx="0.01029558" ixy="-2.846e-05" ixz="0.0036567" iyy="0.01178018" iyz="-2.088e-05" izz="0.00386123"/>
    </inertial>
    <visual>
      <origin rpy="0.0 0.0 0.0" xyz="0.0 0.0 0.0"/>
      <geometry>
        <mesh filename="meshes/simplified/link3.stl" scale="0.001 0.001 0.001"/>
      </geometry>
    </visual>
    <collision>
      <origin rpy="0.0 0.0 0.0" xyz="0.0 0.0 0.0"/>
      <geometry>
        <mesh filename="meshes/convex_hull/link3.stl" scale="0.001 0.001 0.001"/>
      </geometry>
    </collision>
  </link>
  <!-- shoulder roll-pitch-->
  <!-- shoulder-elbow -->
  <link name="arm2_3">
    <inertial>
      <origin xyz="0.01207624 -0.00322013 -0.03427312"/>
      <mass value="1.5088101"/>
      <inertia ixx="0.00469819" ixy="0.00026547" ixz="0.00077706" iyy="0.00501755" iyz="-0.00029679" izz="0.00310954"/>
    </inertial>
    <visual>
      <origin rpy="0.0 0.0 0.0" xyz="0.0 0.0 0.0"/>
      <geometry>
        <mesh filename="meshes/simplified/link4.stl" scale="0.001 0.001 0.001"/>
      </geometry>
      <material name="dark_grey"/>
    </visual>
    <collision>
      <origin rpy="0.0 0.0 0.0" xyz="0.0 0.0 0.0"/>
      <geometry>
        <mesh filename="meshes/convex_hull/link4.stl" scale="0.001 0.001 0.001"/>
      </geometry>
    </collision>
  </link>
  <!-- /shoulder-elbow -->
  <!-- elbow yaw-pitch -->
  <link name="arm2_4">
    <inertial>
      <origin xyz="0.010147552 0.029928537 -0.032528288"/>
      <mass value="0.96297329"/>
      <inertia ixx="0.0026493567" ixy="-5.1632e-06" ixz="0.0001292309" iyy="0.0023470955" iyz="0.0007895755" izz="0.0012213063"/>
    </inertial>
    <visual>
      <origin rpy="0.0 0.0 0.0" xyz="0.0 0.0 0.0"/>
      <geometry>
        <mesh filename="meshes/simplified/link5.stl" scale="0.001 0.001 0.001"/>
      </geometry>
    </visual>
    <collision>
      <origin rpy="0.0 0.0 0.0" xyz="0.0 0.0 0.0"/>
      <geometry>
        <mesh filename="meshes/convex_hull/link5.stl" scale="0.001 0.001 0.001"/>
      </geometry>
    </collision>
  </link>
  <!-- /elbow yaw-pitch -->
  <!-- elbow-wrist -->
  <link name="arm2_5">
    <inertial>
      <origin xyz="-0.0001574443 -0.0041320907 -0.10756614"/>
      <mass value="1.4703698"/>
      <inertia ixx="0.0064160453" ixy="-1.96382e-05" ixz="2.49912e-05" iyy="0.0062016367" iyz="0.0001987903" izz="0.0017091658"/>
    </inertial>
    <visual>
      <origin rpy="0.0 0.0 0.0" xyz="0.0 0.0 0.0"/>
      <geometry>
        <mesh filename="meshes/simplified/link6.stl" scale="0.001 0.001 0.001"/>
      </geometry>
      <material name="dark_grey"/>
    </visual>
    <collision>
      <origin rpy="0.0 0.0 0.0" xyz="0.0 0.0 0.0"/>
      <geometry>
        <mesh filename="meshes/convex_hull/link6.stl" scale="0.001 0.001 0.001"/>
      </geometry>
    </collision>
  </link>
  <!-- /elbow-wrist -->
  <!-- wrist yaw-pitch -->
  <link name="arm2_6">
    <inertial>
      <origin xyz="3.23645e-05 0.035947237 -0.080878061"/>
      <mass value="0.94693868"/>
      <inertia ixx="0.0036896582" ixy="-2.63667e-05" ixz="1.4005e-06" iyy="0.0034146283" iyz="0.0008268103" izz="0.0010790183"/>
    </inertial>
    <visual>
      <origin rpy="0.0 0.0 0.0" xyz="0.0 0.0 0.0"/>
      <geometry>
        <mesh filename="meshes/simplified/link7.stl" scale="0.001 0.001 0.001"/>
      </geometry>
    </visual>
    <collision>
      <origin rpy="0.0 0.0 0.0" xyz="0.0 0.0 0.0"/>
      <geometry>
        <mesh filename="meshes/convex_hull/link7.stl" scale="0.001 0.001 0.001"/>
      </geometry>
    </collision>
  </link>
  <!-- /wrist yaw-pitch -->
  <link name="arm2_7">
    <inertial>
      <origin xyz="2.46596e-05 0.0001467705 -0.0052993013"/>
      <mass value="0.55981036"/>
      <inertia ixx="0.0004360175" ixy="-1.397e-07" ixz="-1.382e-07" iyy="0.0004299166" iyz="1.4752e-06" izz="0.0004522224"/>
    </inertial>
    <visual>
      <origin rpy="0.0 0.0 0.0" xyz="0.0 0.0 0.0"/>
      <geometry>
        <mesh filename="meshes/simplified/link8.stl" scale="0.001 0.001 0.001"/>
      </geometry>
      <material name="dark_grey"/>
    </visual>
    <collision>
      <origin rpy="0.0 0.0 0.0" xyz="0.0 0.0 0.0"/>
      <geometry>
        <mesh filename="meshes/convex_hull/link8.stl" scale="0.001 0.001 0.001"/>
      </geometry>
    </collision>
  </link>
  <!-- /LINKS -->
  <!-- JOINTS -->
  <!-- shoulder yaw -->
  <joint name="j_arm2_1" type="revolute">
    <parent link="torso_2"/>
    <child link="arm2_1"/>
    <origin rpy="0.0 0.0 0.523602668986" xyz="0.04576 -0.169137 0.116626"/>
    <axis xyz="0 -0.984807753012 0.173648177667"/>
    <limit effort="147" lower="-1.6102" upper="3.3138" velocity="5.7"/>
  </joint>
  <!-- /shoulder yaw -->
  <!-- shoulder roll -->
  <joint name="j_arm2_2" type="revolute">
    <parent link="arm2_1"/>
    <child link="arm2_2"/>
    <origin xyz="-0.09115 -0.06106 0.010766"/>
    <axis xyz="-1 0 0"/>
    <limit effort="147" lower="0.0578" upper="3.4288" velocity="5.7"/>
  </joint>
  <!-- /shoulder roll -->
  <!-- shoulder pitch-->
  <joint name="j_arm2_3" type="revolute">
    <parent link="arm2_2"/>
    <child link="arm2_3"/>
    <origin xyz="0.09115 0.0 -0.21915"/>
    <axis xyz="0 0 -1"/>
    <limit effort="147" lower="-2.5426" upper="2.5524" velocity="8.2"/>
  </joint>
  <!-- /shoulder pitch -->
  <!-- elbow yaw -->
  <joint name="j_arm2_4" type="revolute">
    <parent link="arm2_3"/>
    <child link="arm2_4"/>
    <origin xyz="0.04 -0.05615 -0.074"/>
    <axis xyz="0 -1 0"/>
    <limit effort="147" lower="-0.2796" upper="2.4564" velocity="8.2"/>
  </joint>
  <!-- /elbow yaw -->
  <!-- elbow pitch-->
  <joint name="j_arm2_5" type="revolute">
    <parent link="arm2_4"/>
    <child link="arm2_5"/>
    <origin xyz="-0.015 0.05615 -0.061"/>
    <axis xyz="0 0 -1"/>
    <limit effort="55" lower="-2.5626" upper="2.5464" velocity="11.6"/>
  </joint>
  <!-- /elbow pitch-->
  <!-- wrist yaw-->
  <joint name="j_arm2_6" type="revolute">
    <parent link="arm2_5"/>
    <child link="arm2_6"/>
    <origin xyz="0.0 -0.049 -0.18"/>
    <axis xyz="0 -1 0"/>
    <limit effort="55" lower="-1.4726" upper="1.5364" velocity="11.6"/>
  </joint>
  <!-- /wrist yaw-->
  <!-- wrist pitch-->
  <joint name="j_arm2_7" type="revolute">
    <parent link="arm2_6"/>
    <child link="arm2_7"/>
    <origin xyz="0.0 0.049 -0.169"/>
    <axis xyz="0 0 -1"/>
    <limit effort="27" lower="-3.0908" upper="2.0114" velocity="20.3"/>
  </joint>
  <!-- wrist pitch-->
  <!-- force-troque sensor -->
  <transmission name="t_j_arm2_1">
    <type> transmission_interface/SimpleTransmission</type>
    <joint name="j_arm2_1">
      <hardwareInterface>hardware_interface/EffortJointInterface</hardwareInterface>
    </joint>
    <actuator name="motor_j_arm2_1">
      <hardwareInterface>hardware_interface/EffortJointInterface</hardwareInterface>
      <machanicalReduction>1</machanicalReduction>
    </actuator>
    <robotNamespace>/centauro</robotNamespace>
  </transmission>
  <transmission name="t_j_arm2_2">
    <type> transmission_interface/SimpleTransmission</type>
    <joint name="j_arm2_2">
      <hardwareInterface>hardware_interface/EffortJointInterface</hardwareInterface>
    </joint>
    <actuator name="motor_j_arm2_2">
      <hardwareInterface>hardware_interface/EffortJointInterface</hardwareInterface>
      <machanicalReduction>1</machanicalReduction>
    </actuator>
    <robotNamespace>/centauro</robotNamespace>
  </transmission>
  <transmission name="t_j_arm2_3">
    <type> transmission_interface/SimpleTransmission</type>
    <joint name="j_arm2_3">
      <hardwareInterface>hardware_interface/EffortJointInterface</hardwareInterface>
    </joint>
    <actuator name="motor_j_arm2_3">
      <hardwareInterface>hardware_interface/EffortJointInterface</hardwareInterface>
      <machanicalReduction>1</machanicalReduction>
    </actuator>
    <robotNamespace>/centauro</robotNamespace>
  </transmission>
  <transmission name="t_j_arm2_4">
    <type> transmission_interface/SimpleTransmission</type>
    <joint name="j_arm2_4">
      <hardwareInterface>hardware_interface/EffortJointInterface</hardwareInterface>
    </joint>
    <actuator name="motor_j_arm2_4">
      <hardwareInterface>hardware_interface/EffortJointInterface</hardwareInterface>
      <machanicalReduction>1</machanicalReduction>
    </actuator>
    <robotNamespace>/centauro</robotNamespace>
  </transmission>
  <transmission name="t_j_arm2_5">
    <type> transmission_interface/SimpleTransmission</type>
    <joint name="j_arm2_5">
      <hardwareInterface>hardware_interface/EffortJointInterface</hardwareInterface>
    </joint>
    <actuator name="motor_j_arm2_5">
      <hardwareInterface>hardware_interface/EffortJointInterface</hardwareInterface>
      <machanicalReduction>1</machanicalReduction>
    </actuator>
    <robotNamespace>/centauro</robotNamespace>
  </transmission>
  <transmission name="t_j_arm2_6">
    <type> transmission_interface/SimpleTransmission</type>
    <joint name="j_arm2_6">
      <hardwareInterface>hardware_interface/EffortJointInterface</hardwareInterface>
    </joint>
    <actuator name="motor_j_arm2_6">
      <hardwareInterface>hardware_interface/EffortJointInterface</hardwareInterface>
      <machanicalReduction>1</machanicalReduction>
    </actuator>
    <robotNamespace>/centauro</robotNamespace>
  </transmission>
  <transmission name="t_j_arm2_7">
    <type> transmission_interface/SimpleTransmission</type>
    <joint name="j_arm2_7">
      <hardwareInterface>hardware_interface/EffortJointInterface</hardwareInterface>
    </joint>
    <actuator name="motor_j_arm2_7">
      <hardwareInterface>hardware_interface/EffortJointInterface</hardwareInterface>
      <machanicalReduction>1</machanicalReduction>
    </actuator>
    <robotNamespace>/centauro</robotNamespace>
  </transmission>
  <!-- /actuators -->
  <!-- wrist pitch-->
  <joint name="j_ft_2" type="revolute">
    <parent link="arm2_7"/>
    <child link="ft_arm2"/>
    <origin rpy="0.0 3.14159265359 -3.14159265359" xyz="0.0 0.0 -0.0405"/>
    <axis xyz="0 0 1"/>
    <limit effort="0" lower="0.0" upper="0.0" velocity="0"/>
  </joint>
  <!-- wrist pitch-->
  <link name="ft_arm2">
    <inertial>
      <origin xyz="0.0 0.0 0.0"/>
      <mass value="0.15"/>
      <inertia ixx="1e-06" ixy="0.0" ixz="0.0" iyy="1e-06" iyz="0.0" izz="1e-06"/>
    </inertial>
  </link>
  <transmission name="t_j_ft_2">
    <type> transmission_interface/SimpleTransmission</type>
    <joint name="j_ft_2">
      <hardwareInterface>hardware_interface/EffortJointInterface</hardwareInterface>
    </joint>
    <actuator name="motor_j_ft_2">
      <hardwareInterface>hardware_interface/EffortJointInterface</hardwareInterface>
      <machanicalReduction>1</machanicalReduction>
    </actuator>
    <robotNamespace>/centauro</robotNamespace>
  </transmission>
  <link name="arm2_8">
    <inertial>
      <origin rpy="0 0 0" xyz="0 0 -0.07"/>
      <mass value="0.3"/>
      <inertia ixx="0.000245" ixy="0" ixz="0" iyy="0.000245" iyz="0" izz="0.000245"/>
    </inertial>
    <visual>
      <origin rpy="0.0 0.0  0.0" xyz="0.0 0.0 -0.038"/>
      <geometry>
        <mesh filename="meshes/simplified/soft_hand_open.stl" scale="0.001 0.001 0.001"/>
      </geometry>
      <material name="grey"/>
    </visual>
    <collision>
      <origin rpy="0.0 0.0  0.0" xyz="0.0 0.0 -0.038"/>
      <geometry>
        <mesh filename="meshes/simplified/soft_hand_open.stl" scale="0.001 0.001 0.001"/>
      </geometry>
    </collision>
  </link>
  <!-- /links -->
  <joint name="j_arm2_8" type="revolute">
    <parent link="ft_arm2"/>
    <origin rpy="3.14159265359 0.0 0.0" xyz="0.0 0.0 -0.0405"/>
    <child link="arm2_8"/>
    <axis xyz="0 1 0"/>
    <limit effort="40" lower="0.0" upper="0.0" velocity="20.3"/>
  </joint>
   --&gt;

  <!-- /joints -->
  <transmission name="t_j_arm2_8">
    <type> transmission_interface/SimpleTransmission</type>
    <joint name="j_arm2_8">
      <hardwareInterface>hardware_interface/EffortJointInterface</hardwareInterface>
    </joint>
    <actuator name="motor_j_arm2_8">
      <hardwareInterface>hardware_interface/EffortJointInterface</hardwareInterface>
      <machanicalReduction>1</machanicalReduction>
    </actuator>
    <robotNamespace>/centauro</robotNamespace>
  </transmission>
  <!-- /actuators -->
  <!-- /end-effector -->
  <!-- /arms -->
  <link name="hip1_1">
    <inertial>
      <origin xyz="0.010214199 -0.018348359 0.038090987"/>
      <mass value="1.9194403"/>
      <!-- org: 2 -->
      <inertia ixx="0.0047439572" ixy="0.0005747047" ixz="-0.0003784138" iyy="0.0040551878" iyz="0.0007407508" izz="0.0034146219"/>
      <!-- <inertia ixx="0.01" ixy="0.01" ixz="0.01" iyy="0.01" iyz="0.01" izz="0.01"/> -->
    </inertial>
    <visual>
      <origin rpy="0.0 0.0 4.06442490005" xyz="0.0 0.0 0.0"/>
      <geometry>
        <mesh filename="meshes/simplified/hip-yaw.stl" scale="0.001 0.001 0.001"/>
      </geometry>
      <material name="dark_grey"/>
    </visual>
    <collision>
      <origin rpy="0.0 0.0 4.06442490005" xyz="0.0 0.0 0.0"/>
      <geometry>
        <mesh filename="meshes/convex_hull/hip-yaw.stl" scale="0.001 0.001 0.001"/>
      </geometry>
    </collision>
  </link>
  <link name="hip2_1">
    <inertial>
      <origin xyz="2.57966e-05 0.1810266 0.085669756"/>
      <mass value="2.7264471"/>
      <!-- org: 4.5 -->
      <inertia ixx="0.04851869" ixy="-4.11894e-05" ixz="-1.68778e-05" iyy="0.004242055" iyz="0.0032243188" izz="0.04825583"/>
      <!-- <inertia ixx="0.01" ixy="0.01" ixz="0.01" iyy="0.01" iyz="0.01" izz="0.01"/> -->
    </inertial>
    <visual>
      <origin rpy="0.0 0.0 0.0" xyz="0.0 0.0 0.0"/>
      <geometry>
        <mesh filename="meshes/simplified/hip-pitch.stl" scale="0.001 0.001 0.001"/>
      </geometry>
    </visual>
    <collision>
      <origin rpy="0.0 0.0 0.0" xyz="0.0 0.0 0.0"/>
      <geometry>
        <mesh filename="meshes/convex_hull/hip-pitch.stl" scale="0.001 0.001 0.001"/>
      </geometry>
    </collision>
  </link>
  <link name="knee_1">
    <inertial>
      <origin xyz="0.10881667 0.0001089081 -0.022638996"/>
      <mass value="1.9356754"/>
      <!-- org: 3.5, foot un modeled-->
      <inertia ixx="0.0030534242" ixy="-4.22079e-05" ixz="0.0013679297" iyy="0.019603321" iyz="6.9941e-06" izz="0.019849817"/>
      <!--	<inertia ixx="0.01" ixy="0.01" ixz="0.01" iyy="0.01" iyz="0.01" izz="0.01"/>  -->
    </inertial>
    <visual>
      <origin rpy="0.0 0.0 0.0" xyz="0.0 0.0 0.0"/>
      <geometry>
        <mesh filename="meshes/simplified/knee.stl" scale="0.001 0.001 0.001"/>
      </geometry>
      <material name="dark_grey"/>
    </visual>
    <collision>
      <origin rpy="0.0 0.0 0.0" xyz="0.0 0.0 0.0"/>
      <geometry>
        <mesh filename="meshes/convex_hull/knee.stl" scale="0.001 0.001 0.001"/>
      </geometry>
    </collision>
  </link>
  <link name="ankle1_1">
    <inertial>
      <origin xyz="0.032137318 9.73572e-05 -0.0044222206"/>
      <mass value="1.2380744"/>
      <!-- org: 3.5, foot un modeled-->
      <inertia ixx="0.0015610452" ixy="3.30597e-05" ixz="-0.0001314174" iyy="0.0037423211" iyz="-2.12589e-05" izz="0.0038312442"/>
      <!--	<inertia ixx="0.01" ixy="0.01" ixz="0.01" iyy="0.01" iyz="0.01" izz="0.01"/>  -->
    </inertial>
    <visual>
      <origin rpy="0.0 0.0 0.0" xyz="0.0 0.0 0.0"/>
      <geometry>
        <mesh filename="meshes/simplified/ankle-pitch.stl" scale="0.001 0.001 0.001"/>
      </geometry>
    </visual>
    <collision>
      <origin rpy="0.0 0.0 0.0" xyz="0.0 0.0 0.0"/>
      <geometry>
        <mesh filename="meshes/convex_hull/ankle-pitch.stl" scale="0.001 0.001 0.001"/>
      </geometry>
    </collision>
  </link>
  <link name="ankle2_1">
    <inertial>
      <origin xyz="0.0004435803 0.0004389911 0.19392092"/>
      <mass value="1.1565926"/>
      <!-- org: 3.5, foot un modeled-->
      <inertia ixx="0.0049019475" ixy="4.3032e-06" ixz="3.46491e-05" iyy="0.0038724162" iyz="1.7099e-05" izz="0.0021783198"/>
    </inertial>
    <visual>
      <origin rpy="0.0 0.0 0.0" xyz="0.0 0.0 0.0"/>
      <geometry>
        <mesh filename="meshes/simplified/ankle-yaw.stl" scale="0.001 0.001 0.001"/>
      </geometry>
      <material name="dark_grey"/>
    </visual>
    <collision>
      <origin rpy="0.0 0.0 0.0" xyz="0.0 0.0 0.0"/>
      <geometry>
        <mesh filename="meshes/convex_hull/ankle-yaw.stl" scale="0.001 0.001 0.001"/>
      </geometry>
    </collision>
  </link>
  <link name="wheel_1">
    <inertial>
      <origin xyz="0.0 0.0 0.0024271906"/>
      <mass value="1.7289003"/>
      <!-- org: 3.5, foot un modeled-->
      <inertia ixx="0.0046864297" ixy="0.0" ixz="0.0" iyy="0.0046713489" iyz="0.0" izz="0.0053126029"/>
    </inertial>
    <visual>
      <origin rpy="0.0 0.0 0.0" xyz="0.0 0.0 0.0"/>
      <geometry>
        <mesh filename="meshes/simplified/wheel.stl" scale="0.001 0.001 0.001"/>
      </geometry>
      <material name="black"/>
    </visual>
    <collision>
      <origin rpy="0.0 0.0 0.0" xyz="0.0 0.0 0.0"/>
      <geometry>
        <mesh filename="meshes/convex_hull/wheel.stl" scale="0.001 0.001 0.001"/>
      </geometry>
    </collision>
  </link>
  <joint name="hip_yaw_1" type="revolute">
    <parent link="pelvis"/>
    <child link="hip1_1"/>
    <origin rpy="3.14159265359 0.0 0.461416123228" xyz="0.25 0.125 -0.0566"/>
    <axis xyz="0 0 1"/>
    <limit effort="304" lower="-0.9432" upper="2.5138" velocity="8.8"/>
  </joint>
  <joint name="hip_pitch_1" type="revolute">
    <parent link="hip1_1"/>
    <child link="hip2_1"/>
    <origin rpy="1.57079632679 0.0 0.46141612323" xyz="0.0 0.0 0.0625"/>
    <axis xyz="0 0 1"/>
    <limit effort="304" lower="-2.0226" upper="2.02748" velocity="8.8"/>
  </joint>
  <joint name="knee_pitch_1" type="revolute">
    <parent link="hip2_1"/>
    <child link="knee_1"/>
    <origin rpy="3.14159265359 0.0 1.57079632679" xyz="0.0 0.3 -0.0036"/>
    <axis xyz="0 0 1"/>
    <limit effort="304" lower="-2.4056" upper="2.3994" velocity="8.8"/>
  </joint>
  <joint name="ankle_pitch_1" type="revolute">
    <parent link="knee_1"/>
    <child link="ankle1_1"/>
    <origin rpy="3.14159265359 0.0 0.0" xyz="0.2 0.0 -0.10015"/>
    <axis xyz="0 0 1"/>
    <limit effort="147" lower="-2.4056" upper="2.3184" velocity="8.1"/>
  </joint>
  <joint name="ankle_yaw_1" type="revolute">
    <parent link="ankle1_1"/>
    <child link="ankle2_1"/>
    <origin rpy="1.57079632679 0.0 1.57079632679" xyz="0.0 0.0 0.0"/>
    <axis xyz="0 0 1"/>
    <limit effort="35" lower="-2.5626" upper="2.5384" velocity="20.0"/>
  </joint>
  <joint name="j_wheel_1" type="continuous">
    <parent link="ankle2_1"/>
    <child link="wheel_1"/>
    <origin rpy="1.57079632679 0.0 3.14159265359" xyz="0.0 0.00085 0.23735"/>
    <axis xyz="0 0 -1"/>
    <limit effort="35" velocity="20.0"/>
  </joint>
  <transmission name="t_hip_yaw_1">
    <type> transmission_interface/SimpleTransmission</type>
    <joint name="hip_yaw_1">
      <hardwareInterface>hardware_interface/EffortJointInterface</hardwareInterface>
    </joint>
    <actuator name="motor_hip_yaw_1">
      <hardwareInterface>hardware_interface/EffortJointInterface</hardwareInterface>
      <machanicalReduction>1</machanicalReduction>
    </actuator>
    <robotNamespace>/centauro</robotNamespace>
  </transmission>
  <transmission name="t_hip_pitch_1">
    <type> transmission_interface/SimpleTransmission</type>
    <joint name="hip_pitch_1">
      <hardwareInterface>hardware_interface/EffortJointInterface</hardwareInterface>
    </joint>
    <actuator name="motor_hip_pitch_1">
      <hardwareInterface>hardware_interface/EffortJointInterface</hardwareInterface>
      <machanicalReduction>1</machanicalReduction>
    </actuator>
    <robotNamespace>/centauro</robotNamespace>
  </transmission>
  <transmission name="t_knee_pitch_1">
    <type> transmission_interface/SimpleTransmission</type>
    <joint name="knee_pitch_1">
      <hardwareInterface>hardware_interface/EffortJointInterface</hardwareInterface>
    </joint>
    <actuator name="motor_knee_pitch_1">
      <hardwareInterface>hardware_interface/EffortJointInterface</hardwareInterface>
      <machanicalReduction>1</machanicalReduction>
    </actuator>
    <robotNamespace>/centauro</robotNamespace>
  </transmission>
  <transmission name="t_ankle_pitch_1">
    <type> transmission_interface/SimpleTransmission</type>
    <joint name="ankle_pitch_1">
      <hardwareInterface>hardware_interface/EffortJointInterface</hardwareInterface>
    </joint>
    <actuator name="motor_ankle_pitch_1">
      <hardwareInterface>hardware_interface/EffortJointInterface</hardwareInterface>
      <machanicalReduction>1</machanicalReduction>
    </actuator>
    <robotNamespace>/centauro</robotNamespace>
  </transmission>
  <transmission name="t_ankle_yaw_1">
    <type> transmission_interface/SimpleTransmission</type>
    <joint name="ankle_yaw_1">
      <hardwareInterface>hardware_interface/EffortJointInterface</hardwareInterface>
    </joint>
    <actuator name="motor_ankle_yaw_1">
      <hardwareInterface>hardware_interface/EffortJointInterface</hardwareInterface>
      <machanicalReduction>1</machanicalReduction>
    </actuator>
    <robotNamespace>/centauro</robotNamespace>
  </transmission>
  <transmission name="t_j_wheel_1">
    <type> transmission_interface/SimpleTransmission</type>
    <joint name="j_wheel_1">
      <hardwareInterface>hardware_interface/EffortJointInterface</hardwareInterface>
    </joint>
    <actuator name="motor_j_wheel_1">
      <hardwareInterface>hardware_interface/EffortJointInterface</hardwareInterface>
      <machanicalReduction>1</machanicalReduction>
    </actuator>
    <robotNamespace>/centauro</robotNamespace>
  </transmission>
  <!-- /actuators -->
  <link name="hip1_2">
    <inertial>
      <origin xyz="0.010214199 0.018348359 0.038090987"/>
      <mass value="1.9194403"/>
      <!-- org: 2 -->
      <inertia ixx="0.0047439572" ixy="-0.0005747047" ixz="-0.0003784138" iyy="0.0040551878" iyz="-0.0007407508" izz="0.0034146219"/>
      <!-- <inertia ixx="0.01" ixy="0.01" ixz="0.01" iyy="0.01" iyz="0.01" izz="0.01"/> -->
    </inertial>
    <visual>
      <origin rpy="0.0 0.0 0.0" xyz="0.0 0.0 0.0"/>
      <geometry>
        <mesh filename="meshes/simplified/hip-yaw.stl" scale="0.001 0.001 0.001"/>
      </geometry>
      <material name="dark_grey"/>
    </visual>
    <collision>
      <origin rpy="0.0 0.0 0.0" xyz="0.0 0.0 0.0"/>
      <geometry>
        <mesh filename="meshes/convex_hull/hip-yaw.stl" scale="0.001 0.001 0.001"/>
      </geometry>
    </collision>
  </link>
  <link name="hip2_2">
    <inertial>
      <origin xyz="2.57966e-05 0.1810266 0.085669756"/>
      <mass value="2.7264471"/>
      <!-- org: 4.5 -->
      <inertia ixx="0.04851869" ixy="-4.11894e-05" ixz="-1.68778e-05" iyy="0.004242055" iyz="0.0032243188" izz="0.04825583"/>
      <!-- <inertia ixx="0.01" ixy="0.01" ixz="0.01" iyy="0.01" iyz="0.01" izz="0.01"/> -->
    </inertial>
    <visual>
      <origin rpy="0.0 0.0 0.0" xyz="0.0 0.0 0.0"/>
      <geometry>
        <mesh filename="meshes/simplified/hip-pitch.stl" scale="0.001 0.001 0.001"/>
      </geometry>
    </visual>
    <collision>
      <origin rpy="0.0 0.0 0.0" xyz="0.0 0.0 0.0"/>
      <geometry>
        <mesh filename="meshes/convex_hull/hip-pitch.stl" scale="0.001 0.001 0.001"/>
      </geometry>
    </collision>
  </link>
  <link name="knee_2">
    <inertial>
      <origin xyz="0.10881667 0.0001089081 -0.022638996"/>
      <mass value="1.9356754"/>
      <!-- org: 3.5, foot un modeled-->
      <inertia ixx="0.0030534242" ixy="-4.22079e-05" ixz="0.0013679297" iyy="0.019603321" iyz="6.9941e-06" izz="0.019849817"/>
      <!--	<inertia ixx="0.01" ixy="0.01" ixz="0.01" iyy="0.01" iyz="0.01" izz="0.01"/>  -->
    </inertial>
    <visual>
      <origin rpy="0.0 0.0 0.0" xyz="0.0 0.0 0.0"/>
      <geometry>
        <mesh filename="meshes/simplified/knee.stl" scale="0.001 0.001 0.001"/>
      </geometry>
      <material name="dark_grey"/>
    </visual>
    <collision>
      <origin rpy="0.0 0.0 0.0" xyz="0.0 0.0 0.0"/>
      <geometry>
        <mesh filename="meshes/convex_hull/knee.stl" scale="0.001 0.001 0.001"/>
      </geometry>
    </collision>
  </link>
  <link name="ankle1_2">
    <inertial>
      <origin xyz="0.032137318 9.73572e-05 -0.0044222206"/>
      <mass value="1.2380744"/>
      <!-- org: 3.5, foot un modeled-->
      <inertia ixx="0.0015610452" ixy="3.30597e-05" ixz="-0.0001314174" iyy="0.0037423211" iyz="-2.12589e-05" izz="0.0038312442"/>
      <!--	<inertia ixx="0.01" ixy="0.01" ixz="0.01" iyy="0.01" iyz="0.01" izz="0.01"/>  -->
    </inertial>
    <visual>
      <origin rpy="0.0 0.0 0.0" xyz="0.0 0.0 0.0"/>
      <geometry>
        <mesh filename="meshes/simplified/ankle-pitch.stl" scale="0.001 0.001 0.001"/>
      </geometry>
    </visual>
    <collision>
      <origin rpy="0.0 0.0 0.0" xyz="0.0 0.0 0.0"/>
      <geometry>
        <mesh filename="meshes/convex_hull/ankle-pitch.stl" scale="0.001 0.001 0.001"/>
      </geometry>
    </collision>
  </link>
  <link name="ankle2_2">
    <inertial>
      <origin xyz="0.0004435803 0.0004389911 0.19392092"/>
      <mass value="1.1565926"/>
      <!-- org: 3.5, foot un modeled-->
      <inertia ixx="0.0049019475" ixy="4.3032e-06" ixz="3.46491e-05" iyy="0.0038724162" iyz="1.7099e-05" izz="0.0021783198"/>
    </inertial>
    <visual>
      <origin rpy="0.0 0.0 0.0" xyz="0.0 0.0 0.0"/>
      <geometry>
        <mesh filename="meshes/simplified/ankle-yaw.stl" scale="0.001 0.001 0.001"/>
      </geometry>
      <material name="dark_grey"/>
    </visual>
    <collision>
      <origin rpy="0.0 0.0 0.0" xyz="0.0 0.0 0.0"/>
      <geometry>
        <mesh filename="meshes/convex_hull/ankle-yaw.stl" scale="0.001 0.001 0.001"/>
      </geometry>
    </collision>
  </link>
  <link name="wheel_2">
    <inertial>
      <origin xyz="0.0 0.0 0.0024271906"/>
      <mass value="1.7289003"/>
      <!-- org: 3.5, foot un modeled-->
      <inertia ixx="0.0046864297" ixy="0.0" ixz="0.0" iyy="0.0046713489" iyz="0.0" izz="0.0053126029"/>
    </inertial>
    <visual>
      <origin rpy="0.0 0.0 0.0" xyz="0.0 0.0 0.0"/>
      <geometry>
        <mesh filename="meshes/simplified/wheel.stl" scale="0.001 0.001 0.001"/>
      </geometry>
      <material name="black"/>
    </visual>
    <collision>
      <origin rpy="0.0 0.0 0.0" xyz="0.0 0.0 0.0"/>
      <geometry>
        <mesh filename="meshes/convex_hull/wheel.stl" scale="0.001 0.001 0.001"/>
      </geometry>
    </collision>
  </link>
  <joint name="hip_yaw_2" type="revolute">
    <parent link="pelvis"/>
    <child link="hip1_2"/>
    <origin rpy="3.14159265359 0.0 -0.461416123228" xyz="0.25 -0.125 -0.0566"/>
    <axis xyz="0 0 1"/>
    <limit effort="304" lower="-2.511" upper="0.943" velocity="8.8"/>
  </joint>
  <joint name="hip_pitch_2" type="revolute">
    <parent link="hip1_2"/>
    <child link="hip2_2"/>
    <origin rpy="1.57079632679 0.0 2.68017653036" xyz="0.0 0.0 0.0625"/>
    <axis xyz="0 0 1"/>
    <limit effort="304" lower="-2.0156" upper="2.0354" velocity="8.8"/>
  </joint>
  <joint name="knee_pitch_2" type="revolute">
    <parent link="hip2_2"/>
    <child link="knee_2"/>
    <origin rpy="3.14159265359 0.0 1.57079632679" xyz="0.0 0.3 -0.0036"/>
    <axis xyz="0 0 1"/>
    <limit effort="304" lower="-2.4006" upper="2.4034" velocity="8.8"/>
  </joint>
  <joint name="ankle_pitch_2" type="revolute">
    <parent link="knee_2"/>
    <child link="ankle1_2"/>
    <origin rpy="3.14159265359 0.0 0.0" xyz="0.2 0.0 -0.10015"/>
    <axis xyz="0 0 1"/>
    <limit effort="147" lower="-2.3266" upper="2.3914" velocity="8.1"/>
  </joint>
  <joint name="ankle_yaw_2" type="revolute">
    <parent link="ankle1_2"/>
    <child link="ankle2_2"/>
    <origin rpy="1.57079632679 0.0 1.57079632679" xyz="0.0 0.0 0.0"/>
    <axis xyz="0 0 1"/>
    <limit effort="35" lower="-2.5546" upper="2.5484" velocity="20.0"/>
  </joint>
  <joint name="j_wheel_2" type="continuous">
    <parent link="ankle2_2"/>
    <child link="wheel_2"/>
    <origin rpy="1.57079632679 0.0 3.14159265359" xyz="0.0 0.00085 0.23735"/>
    <axis xyz="0 0 -1"/>
    <limit effort="35" velocity="20.0"/>
  </joint>
  <transmission name="t_hip_yaw_2">
    <type> transmission_interface/SimpleTransmission</type>
    <joint name="hip_yaw_2">
      <hardwareInterface>hardware_interface/EffortJointInterface</hardwareInterface>
    </joint>
    <actuator name="motor_hip_yaw_2">
      <hardwareInterface>hardware_interface/EffortJointInterface</hardwareInterface>
      <machanicalReduction>1</machanicalReduction>
    </actuator>
    <robotNamespace>/centauro</robotNamespace>
  </transmission>
  <transmission name="t_hip_pitch_2">
    <type> transmission_interface/SimpleTransmission</type>
    <joint name="hip_pitch_2">
      <hardwareInterface>hardware_interface/EffortJointInterface</hardwareInterface>
    </joint>
    <actuator name="motor_hip_pitch_2">
      <hardwareInterface>hardware_interface/EffortJointInterface</hardwareInterface>
      <machanicalReduction>1</machanicalReduction>
    </actuator>
    <robotNamespace>/centauro</robotNamespace>
  </transmission>
  <transmission name="t_knee_pitch_2">
    <type> transmission_interface/SimpleTransmission</type>
    <joint name="knee_pitch_2">
      <hardwareInterface>hardware_interface/EffortJointInterface</hardwareInterface>
    </joint>
    <actuator name="motor_knee_pitch_2">
      <hardwareInterface>hardware_interface/EffortJointInterface</hardwareInterface>
      <machanicalReduction>1</machanicalReduction>
    </actuator>
    <robotNamespace>/centauro</robotNamespace>
  </transmission>
  <transmission name="t_ankle_pitch_2">
    <type> transmission_interface/SimpleTransmission</type>
    <joint name="ankle_pitch_2">
      <hardwareInterface>hardware_interface/EffortJointInterface</hardwareInterface>
    </joint>
    <actuator name="motor_ankle_pitch_2">
      <hardwareInterface>hardware_interface/EffortJointInterface</hardwareInterface>
      <machanicalReduction>1</machanicalReduction>
    </actuator>
    <robotNamespace>/centauro</robotNamespace>
  </transmission>
  <transmission name="t_ankle_yaw_2">
    <type> transmission_interface/SimpleTransmission</type>
    <joint name="ankle_yaw_2">
      <hardwareInterface>hardware_interface/EffortJointInterface</hardwareInterface>
    </joint>
    <actuator name="motor_ankle_yaw_2">
      <hardwareInterface>hardware_interface/EffortJointInterface</hardwareInterface>
      <machanicalReduction>1</machanicalReduction>
    </actuator>
    <robotNamespace>/centauro</robotNamespace>
  </transmission>
  <transmission name="t_j_wheel_2">
    <type> transmission_interface/SimpleTransmission</type>
    <joint name="j_wheel_2">
      <hardwareInterface>hardware_interface/EffortJointInterface</hardwareInterface>
    </joint>
    <actuator name="motor_j_wheel_2">
      <hardwareInterface>hardware_interface/EffortJointInterface</hardwareInterface>
      <machanicalReduction>1</machanicalReduction>
    </actuator>
    <robotNamespace>/centauro</robotNamespace>
  </transmission>
  <!-- /actuators -->
  <link name="hip1_3">
    <inertial>
      <origin xyz="0.010214199 0.018348359 0.038090987"/>
      <mass value="1.9194403"/>
      <!-- org: 2 -->
      <inertia ixx="0.0047439572" ixy="-0.0005747047" ixz="-0.0003784138" iyy="0.0040551878" iyz="-0.0007407508" izz="0.0034146219"/>
      <!-- <inertia ixx="0.01" ixy="0.01" ixz="0.01" iyy="0.01" iyz="0.01" izz="0.01"/> -->
    </inertial>
    <visual>
      <origin rpy="0.0 0.0 0.0" xyz="0.0 0.0 0.0"/>
      <geometry>
        <mesh filename="meshes/simplified/hip-yaw.stl" scale="0.001 0.001 0.001"/>
      </geometry>
      <material name="dark_grey"/>
    </visual>
    <collision>
      <origin rpy="0.0 0.0 0.0" xyz="0.0 0.0 0.0"/>
      <geometry>
        <mesh filename="meshes/convex_hull/hip-yaw.stl" scale="0.001 0.001 0.001"/>
      </geometry>
    </collision>
  </link>
  <link name="hip2_3">
    <inertial>
      <origin xyz="2.57966e-05 0.1810266 0.085669756"/>
      <mass value="2.7264471"/>
      <!-- org: 4.5 -->
      <inertia ixx="0.04851869" ixy="-4.11894e-05" ixz="-1.68778e-05" iyy="0.004242055" iyz="0.0032243188" izz="0.04825583"/>
      <!-- <inertia ixx="0.01" ixy="0.01" ixz="0.01" iyy="0.01" iyz="0.01" izz="0.01"/> -->
    </inertial>
    <visual>
      <origin rpy="0.0 0.0 0.0" xyz="0.0 0.0 0.0"/>
      <geometry>
        <mesh filename="meshes/simplified/hip-pitch.stl" scale="0.001 0.001 0.001"/>
      </geometry>
    </visual>
    <collision>
      <origin rpy="0.0 0.0 0.0" xyz="0.0 0.0 0.0"/>
      <geometry>
        <mesh filename="meshes/convex_hull/hip-pitch.stl" scale="0.001 0.001 0.001"/>
      </geometry>
    </collision>
  </link>
  <link name="knee_3">
    <inertial>
      <origin xyz="0.10881667 0.0001089081 -0.022638996"/>
      <mass value="1.9356754"/>
      <!-- org: 3.5, foot un modeled-->
      <inertia ixx="0.0030534242" ixy="-4.22079e-05" ixz="0.0013679297" iyy="0.019603321" iyz="6.9941e-06" izz="0.019849817"/>
      <!--	<inertia ixx="0.01" ixy="0.01" ixz="0.01" iyy="0.01" iyz="0.01" izz="0.01"/>  -->
    </inertial>
    <visual>
      <origin rpy="0.0 0.0 0.0" xyz="0.0 0.0 0.0"/>
      <geometry>
        <mesh filename="meshes/simplified/knee.stl" scale="0.001 0.001 0.001"/>
      </geometry>
      <material name="dark_grey"/>
    </visual>
    <collision>
      <origin rpy="0.0 0.0 0.0" xyz="0.0 0.0 0.0"/>
      <geometry>
        <mesh filename="meshes/convex_hull/knee.stl" scale="0.001 0.001 0.001"/>
      </geometry>
    </collision>
  </link>
  <link name="ankle1_3">
    <inertial>
      <origin xyz="0.032137318 9.73572e-05 -0.0044222206"/>
      <mass value="1.2380744"/>
      <!-- org: 3.5, foot un modeled-->
      <inertia ixx="0.0015610452" ixy="3.30597e-05" ixz="-0.0001314174" iyy="0.0037423211" iyz="-2.12589e-05" izz="0.0038312442"/>
      <!--	<inertia ixx="0.01" ixy="0.01" ixz="0.01" iyy="0.01" iyz="0.01" izz="0.01"/>  -->
    </inertial>
    <visual>
      <origin rpy="0.0 0.0 0.0" xyz="0.0 0.0 0.0"/>
      <geometry>
        <mesh filename="meshes/simplified/ankle-pitch.stl" scale="0.001 0.001 0.001"/>
      </geometry>
    </visual>
    <collision>
      <origin rpy="0.0 0.0 0.0" xyz="0.0 0.0 0.0"/>
      <geometry>
        <mesh filename="meshes/convex_hull/ankle-pitch.stl" scale="0.001 0.001 0.001"/>
      </geometry>
    </collision>
  </link>
  <link name="ankle2_3">
    <inertial>
      <origin xyz="0.0004435803 0.0004389911 0.19392092"/>
      <mass value="1.1565926"/>
      <!-- org: 3.5, foot un modeled-->
      <inertia ixx="0.0049019475" ixy="4.3032e-06" ixz="3.46491e-05" iyy="0.0038724162" iyz="1.7099e-05" izz="0.0021783198"/>
    </inertial>
    <visual>
      <origin rpy="0.0 0.0 0.0" xyz="0.0 0.0 0.0"/>
      <geometry>
        <mesh filename="meshes/simplified/ankle-yaw.stl" scale="0.001 0.001 0.001"/>
      </geometry>
      <material name="dark_grey"/>
    </visual>
    <collision>
      <origin rpy="0.0 0.0 0.0" xyz="0.0 0.0 0.0"/>
      <geometry>
        <mesh filename="meshes/convex_hull/ankle-yaw.stl" scale="0.001 0.001 0.001"/>
      </geometry>
    </collision>
  </link>
  <link name="wheel_3">
    <inertial>
      <origin xyz="0.0 0.0 0.0024271906"/>
      <mass value="1.7289003"/>
      <!-- org: 3.5, foot un modeled-->
      <inertia ixx="0.0046864297" ixy="0.0" ixz="0.0" iyy="0.0046713489" iyz="0.0" izz="0.0053126029"/>
    </inertial>
    <visual>
      <origin rpy="0.0 0.0 0.0" xyz="0.0 0.0 0.0"/>
      <geometry>
        <mesh filename="meshes/simplified/wheel.stl" scale="0.001 0.001 0.001"/>
      </geometry>
      <material name="black"/>
    </visual>
    <collision>
      <origin rpy="0.0 0.0 0.0" xyz="0.0 0.0 0.0"/>
      <geometry>
        <mesh filename="meshes/convex_hull/wheel.stl" scale="0.001 0.001 0.001"/>
      </geometry>
    </collision>
  </link>
  <joint name="hip_yaw_3" type="revolute">
    <parent link="pelvis"/>
    <child link="hip1_3"/>
    <origin rpy="3.14159265359 0.0 2.68017653036" xyz="-0.25 0.125 -0.0566"/>
    <axis xyz="0 0 1"/>
    <limit effort="304" lower="-2.51" upper="0.943" velocity="8.8"/>
  </joint>
  <joint name="hip_pitch_3" type="revolute">
    <parent link="hip1_3"/>
    <child link="hip2_3"/>
    <origin rpy="1.57079632679 0.0 2.68017653036" xyz="0.0 0.0 0.0625"/>
    <axis xyz="0 0 1"/>
    <limit effort="304" lower="-2.0126" upper="2.0384" velocity="8.8"/>
  </joint>
  <joint name="knee_pitch_3" type="revolute">
    <parent link="hip2_3"/>
    <child link="knee_3"/>
    <origin rpy="3.14159265359 0.0 1.57079632679" xyz="0.0 0.3 -0.0036"/>
    <axis xyz="0 0 1"/>
    <limit effort="304" lower="-2.4056" upper="2.4064" velocity="8.8"/>
  </joint>
  <joint name="ankle_pitch_3" type="revolute">
    <parent link="knee_3"/>
    <child link="ankle1_3"/>
    <origin rpy="3.14159265359 0.0 0.0" xyz="0.2 0.0 -0.10015"/>
    <axis xyz="0 0 1"/>
    <limit effort="147" lower="-2.4696" upper="2.4464" velocity="8.1"/>
  </joint>
  <joint name="ankle_yaw_3" type="revolute">
    <parent link="ankle1_3"/>
    <child link="ankle2_3"/>
    <origin rpy="1.57079632679 0.0 1.57079632679" xyz="0.0 0.0 0.0"/>
    <axis xyz="0 0 1"/>
    <limit effort="35" lower="-2.5606" upper="2.5454" velocity="20.0"/>
  </joint>
  <joint name="j_wheel_3" type="continuous">
    <parent link="ankle2_3"/>
    <child link="wheel_3"/>
    <origin rpy="1.57079632679 0.0 3.14159265359" xyz="0.0 0.00085 0.23735"/>
    <axis xyz="0 0 -1"/>
    <limit effort="35" velocity="20.0"/>
  </joint>
  <transmission name="t_hip_yaw_3">
    <type> transmission_interface/SimpleTransmission</type>
    <joint name="hip_yaw_3">
      <hardwareInterface>hardware_interface/EffortJointInterface</hardwareInterface>
    </joint>
    <actuator name="motor_hip_yaw_3">
      <hardwareInterface>hardware_interface/EffortJointInterface</hardwareInterface>
      <machanicalReduction>1</machanicalReduction>
    </actuator>
    <robotNamespace>/centauro</robotNamespace>
  </transmission>
  <transmission name="t_hip_pitch_3">
    <type> transmission_interface/SimpleTransmission</type>
    <joint name="hip_pitch_3">
      <hardwareInterface>hardware_interface/EffortJointInterface</hardwareInterface>
    </joint>
    <actuator name="motor_hip_pitch_3">
      <hardwareInterface>hardware_interface/EffortJointInterface</hardwareInterface>
      <machanicalReduction>1</machanicalReduction>
    </actuator>
    <robotNamespace>/centauro</robotNamespace>
  </transmission>
  <transmission name="t_knee_pitch_3">
    <type> transmission_interface/SimpleTransmission</type>
    <joint name="knee_pitch_3">
      <hardwareInterface>hardware_interface/EffortJointInterface</hardwareInterface>
    </joint>
    <actuator name="motor_knee_pitch_3">
      <hardwareInterface>hardware_interface/EffortJointInterface</hardwareInterface>
      <machanicalReduction>1</machanicalReduction>
    </actuator>
    <robotNamespace>/centauro</robotNamespace>
  </transmission>
  <transmission name="t_ankle_pitch_3">
    <type> transmission_interface/SimpleTransmission</type>
    <joint name="ankle_pitch_3">
      <hardwareInterface>hardware_interface/EffortJointInterface</hardwareInterface>
    </joint>
    <actuator name="motor_ankle_pitch_3">
      <hardwareInterface>hardware_interface/EffortJointInterface</hardwareInterface>
      <machanicalReduction>1</machanicalReduction>
    </actuator>
    <robotNamespace>/centauro</robotNamespace>
  </transmission>
  <transmission name="t_ankle_yaw_3">
    <type> transmission_interface/SimpleTransmission</type>
    <joint name="ankle_yaw_3">
      <hardwareInterface>hardware_interface/EffortJointInterface</hardwareInterface>
    </joint>
    <actuator name="motor_ankle_yaw_3">
      <hardwareInterface>hardware_interface/EffortJointInterface</hardwareInterface>
      <machanicalReduction>1</machanicalReduction>
    </actuator>
    <robotNamespace>/centauro</robotNamespace>
  </transmission>
  <transmission name="t_j_wheel_3">
    <type> transmission_interface/SimpleTransmission</type>
    <joint name="j_wheel_3">
      <hardwareInterface>hardware_interface/EffortJointInterface</hardwareInterface>
    </joint>
    <actuator name="motor_j_wheel_3">
      <hardwareInterface>hardware_interface/EffortJointInterface</hardwareInterface>
      <machanicalReduction>1</machanicalReduction>
    </actuator>
    <robotNamespace>/centauro</robotNamespace>
  </transmission>
  <!-- /actuators -->
  <link name="hip1_4">
    <inertial>
      <origin xyz="0.010214199 -0.018348359 0.038090987"/>
      <mass value="1.9194403"/>
      <!-- org: 2 -->
      <inertia ixx="0.0047439572" ixy="0.0005747047" ixz="-0.0003784138" iyy="0.0040551878" iyz="0.0007407508" izz="0.0034146219"/>
      <!-- <inertia ixx="0.01" ixy="0.01" ixz="0.01" iyy="0.01" iyz="0.01" izz="0.01"/> -->
    </inertial>
    <visual>
      <origin rpy="0.0 0.0 4.06442490005" xyz="0.0 0.0 0.0"/>
      <geometry>
        <mesh filename="meshes/simplified/hip-yaw.stl" scale="0.001 0.001 0.001"/>
      </geometry>
      <material name="dark_grey"/>
    </visual>
    <collision>
      <origin rpy="0.0 0.0 4.06442490005" xyz="0.0 0.0 0.0"/>
      <geometry>
        <mesh filename="meshes/convex_hull/hip-yaw.stl" scale="0.001 0.001 0.001"/>
      </geometry>
    </collision>
  </link>
  <link name="hip2_4">
    <inertial>
      <origin xyz="2.57966e-05 0.1810266 0.085669756"/>
      <mass value="2.7264471"/>
      <!-- org: 4.5 -->
      <inertia ixx="0.04851869" ixy="-4.11894e-05" ixz="-1.68778e-05" iyy="0.004242055" iyz="0.0032243188" izz="0.04825583"/>
      <!-- <inertia ixx="0.01" ixy="0.01" ixz="0.01" iyy="0.01" iyz="0.01" izz="0.01"/> -->
    </inertial>
    <visual>
      <origin rpy="0.0 0.0 0.0" xyz="0.0 0.0 0.0"/>
      <geometry>
        <mesh filename="meshes/simplified/hip-pitch.stl" scale="0.001 0.001 0.001"/>
      </geometry>
    </visual>
    <collision>
      <origin rpy="0.0 0.0 0.0" xyz="0.0 0.0 0.0"/>
      <geometry>
        <mesh filename="meshes/convex_hull/hip-pitch.stl" scale="0.001 0.001 0.001"/>
      </geometry>
    </collision>
  </link>
  <link name="knee_4">
    <inertial>
      <origin xyz="0.10881667 0.0001089081 -0.022638996"/>
      <mass value="1.9356754"/>
      <!-- org: 3.5, foot un modeled-->
      <inertia ixx="0.0030534242" ixy="-4.22079e-05" ixz="0.0013679297" iyy="0.019603321" iyz="6.9941e-06" izz="0.019849817"/>
      <!--	<inertia ixx="0.01" ixy="0.01" ixz="0.01" iyy="0.01" iyz="0.01" izz="0.01"/>  -->
    </inertial>
    <visual>
      <origin rpy="0.0 0.0 0.0" xyz="0.0 0.0 0.0"/>
      <geometry>
        <mesh filename="meshes/simplified/knee.stl" scale="0.001 0.001 0.001"/>
      </geometry>
      <material name="dark_grey"/>
    </visual>
    <collision>
      <origin rpy="0.0 0.0 0.0" xyz="0.0 0.0 0.0"/>
      <geometry>
        <mesh filename="meshes/convex_hull/knee.stl" scale="0.001 0.001 0.001"/>
      </geometry>
    </collision>
  </link>
  <link name="ankle1_4">
    <inertial>
      <origin xyz="0.032137318 9.73572e-05 -0.0044222206"/>
      <mass value="1.2380744"/>
      <!-- org: 3.5, foot un modeled-->
      <inertia ixx="0.0015610452" ixy="3.30597e-05" ixz="-0.0001314174" iyy="0.0037423211" iyz="-2.12589e-05" izz="0.0038312442"/>
      <!--	<inertia ixx="0.01" ixy="0.01" ixz="0.01" iyy="0.01" iyz="0.01" izz="0.01"/>  -->
    </inertial>
    <visual>
      <origin rpy="0.0 0.0 0.0" xyz="0.0 0.0 0.0"/>
      <geometry>
        <mesh filename="meshes/simplified/ankle-pitch.stl" scale="0.001 0.001 0.001"/>
      </geometry>
    </visual>
    <collision>
      <origin rpy="0.0 0.0 0.0" xyz="0.0 0.0 0.0"/>
      <geometry>
        <mesh filename="meshes/convex_hull/ankle-pitch.stl" scale="0.001 0.001 0.001"/>
      </geometry>
    </collision>
  </link>
  <link name="ankle2_4">
    <inertial>
      <origin xyz="0.0004435803 0.0004389911 0.19392092"/>
      <mass value="1.1565926"/>
      <!-- org: 3.5, foot un modeled-->
      <inertia ixx="0.0049019475" ixy="4.3032e-06" ixz="3.46491e-05" iyy="0.0038724162" iyz="1.7099e-05" izz="0.0021783198"/>
    </inertial>
    <visual>
      <origin rpy="0.0 0.0 0.0" xyz="0.0 0.0 0.0"/>
      <geometry>
        <mesh filename="meshes/simplified/ankle-yaw.stl" scale="0.001 0.001 0.001"/>
      </geometry>
      <material name="dark_grey"/>
    </visual>
    <collision>
      <origin rpy="0.0 0.0 0.0" xyz="0.0 0.0 0.0"/>
      <geometry>
        <mesh filename="meshes/convex_hull/ankle-yaw.stl" scale="0.001 0.001 0.001"/>
      </geometry>
    </collision>
  </link>
  <link name="wheel_4">
    <inertial>
      <origin xyz="0.0 0.0 0.0024271906"/>
      <mass value="1.7289003"/>
      <!-- org: 3.5, foot un modeled-->
      <inertia ixx="0.0046864297" ixy="0.0" ixz="0.0" iyy="0.0046713489" iyz="0.0" izz="0.0053126029"/>
    </inertial>
    <visual>
      <origin rpy="0.0 0.0 0.0" xyz="0.0 0.0 0.0"/>
      <geometry>
        <mesh filename="meshes/simplified/wheel.stl" scale="0.001 0.001 0.001"/>
      </geometry>
      <material name="black"/>
    </visual>
    <collision>
      <origin rpy="0.0 0.0 0.0" xyz="0.0 0.0 0.0"/>
      <geometry>
        <mesh filename="meshes/convex_hull/wheel.stl" scale="0.001 0.001 0.001"/>
      </geometry>
    </collision>
  </link>
  <joint name="hip_yaw_4" type="revolute">
    <parent link="pelvis"/>
    <child link="hip1_4"/>
    <origin rpy="3.14159265359 0.0 3.60300877682" xyz="-0.25 -0.125 -0.0566"/>
    <axis xyz="0 0 1"/>
    <limit effort="304" lower="-0.9412" upper="2.5138" velocity="8.8"/>
  </joint>
  <joint name="hip_pitch_4" type="revolute">
    <parent link="hip1_4"/>
    <child link="hip2_4"/>
    <origin rpy="1.57079632679 0.0 0.46141612323" xyz="0.0 0.0 0.0625"/>
    <axis xyz="0 0 1"/>
    <limit effort="304" lower="-2.0326" upper="2.0524" velocity="8.8"/>
  </joint>
  <joint name="knee_pitch_4" type="revolute">
    <parent link="hip2_4"/>
    <child link="knee_4"/>
    <origin rpy="3.14159265359 0.0 1.57079632679" xyz="0.0 0.3 -0.0036"/>
    <axis xyz="0 0 1"/>
    <limit effort="304" lower="-2.4176" upper="2.3884" velocity="8.8"/>
  </joint>
  <joint name="ankle_pitch_4" type="revolute">
    <parent link="knee_4"/>
    <child link="ankle1_4"/>
    <origin rpy="3.14159265359 0.0 0.0" xyz="0.2 0.0 -0.10015"/>
    <axis xyz="0 0 1"/>
    <limit effort="147" lower="-2.3426" upper="2.3934" velocity="8.1"/>
  </joint>
  <joint name="ankle_yaw_4" type="revolute">
    <parent link="ankle1_4"/>
    <child link="ankle2_4"/>
    <origin rpy="1.57079632679 0.0 1.57079632679" xyz="0.0 0.0 0.0"/>
    <axis xyz="0 0 1"/>
    <limit effort="35" lower="-2.6046" upper="2.5514" velocity="20.0"/>
  </joint>
  <joint name="j_wheel_4" type="continuous">
    <parent link="ankle2_4"/>
    <child link="wheel_4"/>
    <origin rpy="1.57079632679 0.0 3.14159265359" xyz="0.0 0.00085 0.23735"/>
    <axis xyz="0 0 -1"/>
    <limit effort="35" velocity="20.0"/>
  </joint>
  <transmission name="t_hip_yaw_4">
    <type> transmission_interface/SimpleTransmission</type>
    <joint name="hip_yaw_4">
      <hardwareInterface>hardware_interface/EffortJointInterface</hardwareInterface>
    </joint>
    <actuator name="motor_hip_yaw_4">
      <hardwareInterface>hardware_interface/EffortJointInterface</hardwareInterface>
      <machanicalReduction>1</machanicalReduction>
    </actuator>
    <robotNamespace>/centauro</robotNamespace>
  </transmission>
  <transmission name="t_hip_pitch_4">
    <type> transmission_interface/SimpleTransmission</type>
    <joint name="hip_pitch_4">
      <hardwareInterface>hardware_interface/EffortJointInterface</hardwareInterface>
    </joint>
    <actuator name="motor_hip_pitch_4">
      <hardwareInterface>hardware_interface/EffortJointInterface</hardwareInterface>
      <machanicalReduction>1</machanicalReduction>
    </actuator>
    <robotNamespace>/centauro</robotNamespace>
  </transmission>
  <transmission name="t_knee_pitch_4">
    <type> transmission_interface/SimpleTransmission</type>
    <joint name="knee_pitch_4">
      <hardwareInterface>hardware_interface/EffortJointInterface</hardwareInterface>
    </joint>
    <actuator name="motor_knee_pitch_4">
      <hardwareInterface>hardware_interface/EffortJointInterface</hardwareInterface>
      <machanicalReduction>1</machanicalReduction>
    </actuator>
    <robotNamespace>/centauro</robotNamespace>
  </transmission>
  <transmission name="t_ankle_pitch_4">
    <type> transmission_interface/SimpleTransmission</type>
    <joint name="ankle_pitch_4">
      <hardwareInterface>hardware_interface/EffortJointInterface</hardwareInterface>
    </joint>
    <actuator name="motor_ankle_pitch_4">
      <hardwareInterface>hardware_interface/EffortJointInterface</hardwareInterface>
      <machanicalReduction>1</machanicalReduction>
    </actuator>
    <robotNamespace>/centauro</robotNamespace>
  </transmission>
  <transmission name="t_ankle_yaw_4">
    <type> transmission_interface/SimpleTransmission</type>
    <joint name="ankle_yaw_4">
      <hardwareInterface>hardware_interface/EffortJointInterface</hardwareInterface>
    </joint>
    <actuator name="motor_ankle_yaw_4">
      <hardwareInterface>hardware_interface/EffortJointInterface</hardwareInterface>
      <machanicalReduction>1</machanicalReduction>
    </actuator>
    <robotNamespace>/centauro</robotNamespace>
  </transmission>
  <transmission name="t_j_wheel_4">
    <type> transmission_interface/SimpleTransmission</type>
    <joint name="j_wheel_4">
      <hardwareInterface>hardware_interface/EffortJointInterface</hardwareInterface>
    </joint>
    <actuator name="motor_j_wheel_4">
      <hardwareInterface>hardware_interface/EffortJointInterface</hardwareInterface>
      <machanicalReduction>1</machanicalReduction>
    </actuator>
    <robotNamespace>/centauro</robotNamespace>
  </transmission>
  <!-- /actuators -->
  <!-- /legs -->
</robot>
